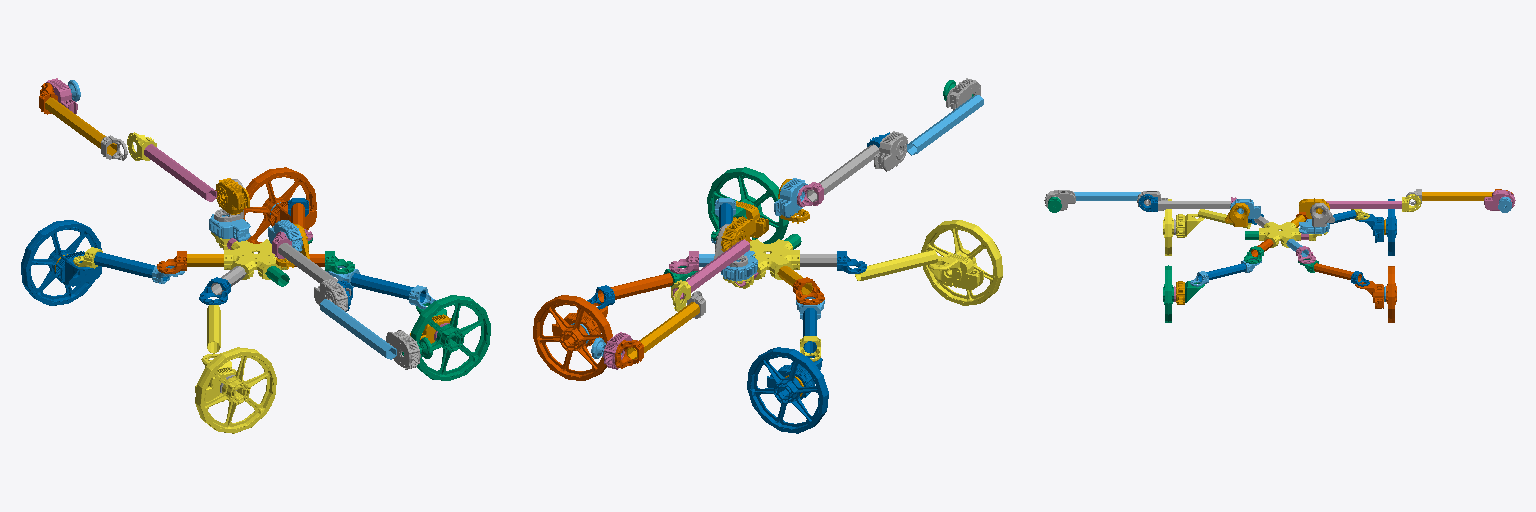
--- Render facts (derived) ---
3 views of the same robot in one strip: view 1: azimuth 30°, elevation 25°; view 2: azimuth 150°, elevation 25°; view 3: azimuth 270°, elevation 25° (orthographic).
Model Crab_1 with 66 links and 65 joints (12 revolute, 53 fixed), rooted at base_link, posed all joints at 0.
Visible links, largest first — view 1: pp_2074_08_27Z, pp_2074_08_65Z, pp_2074_08_2Z, pp_2074_08_5Z, a_2095_01_45Z, tubepar_12Z, tubepar_56Z, tubepar_59Z, hebi_x5_9_63Z, hebi_x5_1_15Z, tubepar_30Z, tubepar_35Z (+5 smaller); view 2: pp_2074_08_2Z, pp_2074_08_5Z, pp_2074_08_27Z, pp_2074_08_65Z, a_2095_01_45Z, tubepar_12Z, tubepar_7Z, tubepar_59Z, tubepar_56Z, tubepar_13Z, hebi_x5_4_19Z, tubepar_24Z (+7 smaller); view 3: a_2095_01_45Z, tubepar_59Z, tubepar_56Z, tubepar_13Z, tubepar_12Z.
Link boxes in pixels (box(x1,y1,x2,y2)): pp_2074_08_27Z: box(195, 347, 276, 433); pp_2074_08_65Z: box(411, 295, 490, 380); pp_2074_08_2Z: box(21, 220, 101, 305); pp_2074_08_5Z: box(243, 167, 316, 243); a_2095_01_45Z: box(224, 239, 287, 279); tubepar_12Z: box(320, 299, 396, 359); tubepar_56Z: box(144, 144, 216, 201); tubepar_59Z: box(45, 97, 116, 155); hebi_x5_9_63Z: box(215, 178, 249, 214); hebi_x5_1_15Z: box(386, 330, 420, 369); tubepar_30Z: box(350, 273, 425, 302); tubepar_35Z: box(94, 252, 168, 280); pp_2074_08_2Z: box(747, 347, 828, 433); pp_2074_08_5Z: box(533, 295, 612, 380); pp_2074_08_27Z: box(921, 220, 1002, 305); pp_2074_08_65Z: box(707, 167, 788, 243); a_2095_01_45Z: box(750, 239, 799, 279); tubepar_12Z: box(907, 95, 983, 155); tubepar_7Z: box(855, 250, 937, 280); tubepar_59Z: box(627, 302, 699, 359); tubepar_56Z: box(673, 239, 749, 299); tubepar_13Z: box(807, 144, 878, 201); hebi_x5_4_19Z: box(874, 131, 907, 171); tubepar_24Z: box(598, 273, 673, 302); a_2095_01_45Z: box(1259, 222, 1300, 247); tubepar_59Z: box(1422, 192, 1492, 200); tubepar_56Z: box(1326, 201, 1401, 208); tubepar_13Z: box(1158, 201, 1230, 208); tubepar_12Z: box(1074, 192, 1140, 200).
Size in the robot's own frame: 0.7614 by 1.66 by 0.343 metres.
57 mesh visuals loaded from 65 distinct referenced files (57 binary STL); not drawn: 8 (reference not matched to a file when rendering).

URDF robot description (Crab_1):
<?xml version="1.0" ?>
<robot name="Crab_1">
  <!--Joints-->
  <joint name="base_link_to_a_2095_01_45Z" type="fixed">
    <parent link="base_link"/>
    <child link="a_2095_01_45Z"/>
  </joint>
  <joint name="a_2095_01_45Z_to_tubepar_40Z" type="fixed">
    <parent link="a_2095_01_45Z"/>
    <child link="tubepar_40Z"/>
    <origin rpy="-2.09439510229 -1.57079632679 0.0" xyz="0.0433012702137 -0.0249999999987 -0.001"/>
  </joint>
  <joint name="tubepar_40Z_to_a_2039_02_46Z" type="fixed">
    <parent link="tubepar_40Z"/>
    <child link="a_2039_02_46Z"/>
    <origin rpy="-1.57079632679 -2.49972740699e-14 1.57079632679" xyz="-1.77882983978e-18 0.127 1.29164951977e-34"/>
  </joint>
  <joint name="a_2039_02_46Z_to_a_2039_02_32Z" type="fixed">
    <parent link="a_2039_02_46Z"/>
    <child link="a_2039_02_32Z"/>
    <origin rpy="3.14159265359 6.12323399574e-17 -2.61799387799" xyz="0.014 5.99183964918e-16 0.02"/>
  </joint>
  <joint name="a_2039_02_32Z_to_tubepar_30Z" type="fixed">
    <parent link="a_2039_02_32Z"/>
    <child link="tubepar_30Z"/>
    <origin rpy="1.57079632679 1.57079632679 0.0" xyz="-0.014 2.6908669449e-17 -0.02"/>
  </joint>
  <joint name="tubepar_30Z_to_a_2038_02_31Z" type="fixed">
    <parent link="tubepar_30Z"/>
    <child link="a_2038_02_31Z"/>
    <origin rpy="-1.57079632679 7.0397173103e-17 1.57079632679" xyz="-8.20357803102e-19 -0.2 -5.03064256918e-15"/>
  </joint>
  <joint name="a_2038_02_31Z_to_pm-2132-01_29Z" type="fixed">
    <parent link="a_2038_02_31Z"/>
    <child link="pm-2132-01_29Z"/>
    <origin rpy="3.14159265359 3.12323916977e-16 1.0471975512" xyz="-0.0135 3.07115354976e-16 -0.02"/>
  </joint>
  <joint name="pm-2132-01_29Z_to_hebi_x5_4_26Z" type="fixed">
    <parent link="pm-2132-01_29Z"/>
    <child link="hebi_x5_4_26Z"/>
    <origin rpy="-1.57079632679 -3.12323916977e-16 -3.14159265359" xyz="1.59404075496e-17 -0.043 0.04"/>
  </joint>
  <joint name="FrontRightLeg/Wheel/X5_4" type="revolute">
    <parent link="hebi_x5_4_26Z"/>
    <child link="pm_2155_01_21Z"/>
    <axis xyz="2.03934754218e-16 -1.12263246658e-15 1.0"/>
    <dynamics damping="0.5" friction="0.06"/>
    <limit effort="100" lower="-2.14e9" upper="+2.14e9" velocity="100"/>
    <origin rpy="0.0 -2.77555756027e-17 5.54667823984e-32" xyz="-5.07253762283e-17 1.510621373e-16 0.03"/>
  </joint>
  <gazebo reference="FrontRightLeg/Wheel/X5_4">
    <implicitSpringDamper>True</implicitSpringDamper>
  </gazebo>
  <joint name="pm_2155_01_21Z_to_pp_2074_08_65Z" type="fixed">
    <parent link="pm_2155_01_21Z"/>
    <child link="pp_2074_08_65Z"/>
    <origin rpy="-1.81492413814e-16 3.98951220638e-15 -0.78539816347" xyz="1.34538967405e-17 4.40377213791e-17 0.009"/>
  </joint>
  <joint name="a_2095_01_45Z_to_tubepar_42Z" type="fixed">
    <parent link="a_2095_01_45Z"/>
    <child link="tubepar_42Z"/>
    <origin rpy="-3.14159265359 -1.57079632679 0.0" xyz="1e-23 0.05 -0.001"/>
  </joint>
  <joint name="tubepar_42Z_to_a_2039_02_47Z" type="fixed">
    <parent link="tubepar_42Z"/>
    <child link="a_2039_02_47Z"/>
    <origin rpy="-1.57079632679 -2.50240867501e-14 -1.57079632679" xyz="1.51533398302e-19 -0.075 -1.00000000003e-23"/>
  </joint>
  <joint name="a_2039_02_47Z_to_hebi_x5_4_58Z" type="fixed">
    <parent link="a_2039_02_47Z"/>
    <child link="hebi_x5_4_58Z"/>
    <origin rpy="1.22464679915e-16 1.04083409e-17 2.4901621895e-14" xyz="0.014 3.34009026003e-16 0.02"/>
  </joint>
  <joint name="LeftArm/Base/X5_4" type="revolute">
    <parent link="hebi_x5_4_58Z"/>
    <child link="a_2040_01l_54Z"/>
    <axis xyz="-7.16406808574e-17 -1.73472348e-16 1.0"/>
    <dynamics damping="0.5" friction="0.06"/>
    <limit effort="100" lower="-2" upper="+2" velocity="100"/>
    <origin rpy="-1.23259516441e-32 3.34767643574e-17 1.22464679915e-16" xyz="-5.89926392865e-17 -2.96636102637e-18 0.03"/>
  </joint>
  <gazebo reference="LeftArm/Base/X5_4">
    <implicitSpringDamper>True</implicitSpringDamper>
  </gazebo>
  <joint name="a_2040_01l_54Z_to_hebi_x5_9_63Z" type="fixed">
    <parent link="a_2040_01l_54Z"/>
    <child link="hebi_x5_9_63Z"/>
    <origin rpy="-1.57079632679 -6.12323399574e-17 5.08239990574e-17" xyz="5.10619633156e-17 -0.0225 0.055"/>
  </joint>
  <joint name="LeftArm/Shoulder/X5_9" type="revolute">
    <parent link="hebi_x5_9_63Z"/>
    <child link="a_2038_02_62Z"/>
    <axis xyz="5.08238238768e-17 -2.27765793957e-16 1.0"/>
    <dynamics damping="0.5" friction="0.06"/>
    <limit effort="100" lower="-3.53" upper="+0.4" velocity="100"/>
    <origin rpy="0.0 -2.77555756e-17 -6.16297582204e-33" xyz="-5.53187041445e-17 -6.83297381872e-18 0.03"/>
  </joint>
  <gazebo reference="LeftArm/Shoulder/X5_9">
    <implicitSpringDamper>True</implicitSpringDamper>
  </gazebo>
  <joint name="a_2038_02_62Z_to_tubepar_56Z" type="fixed">
    <parent link="a_2038_02_62Z"/>
    <child link="tubepar_56Z"/>
    <origin rpy="1.57079632679 -1.57079632679 0.0" xyz="0.0135 -1.67831784012e-18 0.02"/>
  </joint>
  <joint name="tubepar_56Z_to_a_2039_02_61Z" type="fixed">
    <parent link="tubepar_56Z"/>
    <child link="a_2039_02_61Z"/>
    <origin rpy="-1.57079632679 -2.50240867501e-14 -1.57079632679" xyz="4.84788958735e-18 -0.3 1.31655315772e-17"/>
  </joint>
  <joint name="a_2039_02_61Z_to_hebi_x5_4_64Z" type="fixed">
    <parent link="a_2039_02_61Z"/>
    <child link="hebi_x5_4_64Z"/>
    <origin rpy="1.22464679915e-16 1.04083409e-17 2.4901621895e-14" xyz="0.014 3.15316657481e-16 0.02"/>
  </joint>
  <joint name="LeftArm/Elbow/X5_4" type="revolute">
    <parent link="hebi_x5_4_64Z"/>
    <child link="a_2038_02_60Z"/>
    <axis xyz="6.81710585768e-17 -3.43291579872e-16 1.0"/>
    <dynamics damping="0.5" friction="0.06"/>
    <limit effort="100" lower="-1.7" upper="+1.7" velocity="100"/>
    <origin rpy="0.0 -2.77555756e-17 -1.23259516441e-32" xyz="-5.47982871035e-17 -1.02987473962e-17 0.03"/>
  </joint>
  <gazebo reference="LeftArm/Elbow/X5_4">
    <implicitSpringDamper>True</implicitSpringDamper>
  </gazebo>
  <joint name="a_2038_02_60Z_to_tubepar_59Z" type="fixed">
    <parent link="a_2038_02_60Z"/>
    <child link="tubepar_59Z"/>
    <origin rpy="1.57079632679 -1.57079632679 0.0" xyz="0.0135 -2.33555801463e-18 0.02"/>
  </joint>
  <joint name="tubepar_59Z_to_a_2039_02_55Z" type="fixed">
    <parent link="tubepar_59Z"/>
    <child link="a_2039_02_55Z"/>
    <origin rpy="1.57079632679 2.50240867501e-14 -1.57079632679" xyz="-3.56280822649e-19 -0.3 4.84778447903e-18"/>
  </joint>
  <joint name="a_2039_02_55Z_to_hebi_x5_1_57Z" type="fixed">
    <parent link="a_2039_02_55Z"/>
    <child link="hebi_x5_1_57Z"/>
    <origin rpy="1.22464679915e-16 1.04083409e-17 2.50240867501e-14" xyz="0.014 3.29041787173e-16 0.02"/>
  </joint>
  <joint name="LeftArm/Wrist/X5_1" type="revolute">
    <parent link="hebi_x5_1_57Z"/>
    <child link="a_2067_01_4Z"/>
    <axis xyz="-1.06334975077e-16 -3.43291579872e-16 1.0"/>
    <dynamics damping="0.5" friction="0.06"/>
    <limit effort="100" lower="-2.14e9" upper="+2.14e9" velocity="100"/>
    <origin rpy="0.0 -2.77555756e-17 -1.23259516441e-32" xyz="-3.19004925231e-18 -1.02987473962e-17 0.03"/>
  </joint>
  <gazebo reference="LeftArm/Wrist/X5_1">
    <implicitSpringDamper>True</implicitSpringDamper>
  </gazebo>
  <joint name="a_2095_01_45Z_to_tubepar_50Z" type="fixed">
    <parent link="a_2095_01_45Z"/>
    <child link="tubepar_50Z"/>
    <origin rpy="2.09439510229 -1.57079632679 0.0" xyz="-0.0433012701559 -0.0250000000011 -0.001"/>
  </joint>
  <joint name="tubepar_50Z_to_a_2039_02_49Z" type="fixed">
    <parent link="tubepar_50Z"/>
    <child link="a_2039_02_49Z"/>
    <origin rpy="-1.57079632679 -2.50162318231e-14 1.57079632679" xyz="-1.66780753732e-18 0.127 -7.1054273576e-18"/>
  </joint>
  <joint name="a_2039_02_49Z_to_a_2039_02_9Z" type="fixed">
    <parent link="a_2039_02_49Z"/>
    <child link="a_2039_02_9Z"/>
    <origin rpy="3.14159265359 -6.12323399574e-17 2.61799387799" xyz="0.014 5.86749467042e-16 0.02"/>
  </joint>
  <joint name="a_2039_02_9Z_to_tubepar_7Z" type="fixed">
    <parent link="a_2039_02_9Z"/>
    <child link="tubepar_7Z"/>
    <origin rpy="1.57079632679 1.57079632679 0.0" xyz="-0.014 1.56382050131e-17 -0.02"/>
  </joint>
  <joint name="tubepar_7Z_to_a_2038_02_8Z" type="fixed">
    <parent link="tubepar_7Z"/>
    <child link="a_2038_02_8Z"/>
    <origin rpy="-1.57079632679 -1.15289174568e-17 1.57079632679" xyz="4.32068283077e-18 -0.2 -5.0448534239e-15"/>
  </joint>
  <joint name="a_2038_02_8Z_to_pm-2132-01_6Z" type="fixed">
    <parent link="a_2038_02_8Z"/>
    <child link="pm-2132-01_6Z"/>
    <origin rpy="-3.14159265359 3.12323916977e-16 2.09439510239" xyz="-0.0135 3.50911952562e-16 -0.02"/>
  </joint>
  <joint name="pm-2132-01_6Z_to_hebi_x5_4_39Z" type="fixed">
    <parent link="pm-2132-01_6Z"/>
    <child link="hebi_x5_4_39Z"/>
    <origin rpy="-1.57079632679 -3.12323916977e-16 -3.14159265359" xyz="6.07603094376e-19 -0.043 0.04"/>
  </joint>
  <joint name="BackRightLeg/Wheel/X5_4" type="revolute">
    <parent link="hebi_x5_4_39Z"/>
    <child link="pm_2155_01_1Z"/>
    <axis xyz="2.89067447375e-15 -4.84500417478e-16 1.0"/>
    <dynamics damping="0.5" friction="0.06"/>
    <limit effort="100" lower="-2.14e9" upper="+2.14e9" velocity="100"/>
    <origin rpy="0.0 -2.77555756027e-17 1.23259516441e-32" xyz="-8.38100223695e-17 1.38866969061e-17 0.03"/>
  </joint>
  <gazebo reference="BackRightLeg/Wheel/X5_4">
    <implicitSpringDamper>True</implicitSpringDamper>
  </gazebo>
  <joint name="pm_2155_01_1Z_to_pp_2074_08_27Z" type="fixed">
    <parent link="pm_2155_01_1Z"/>
    <child link="pp_2074_08_27Z"/>
    <origin rpy="1.96131761721e-16 9.79670465943e-16 -0.785398163261" xyz="7.17406055329e-17 9.99051661838e-18 0.009"/>
  </joint>
  <joint name="a_2095_01_45Z_to_tubepar_48Z" type="fixed">
    <parent link="a_2095_01_45Z"/>
    <child link="tubepar_48Z"/>
    <origin rpy="-2.09439510229 -1.57079632679 0.0" xyz="-0.0433012701559 0.0250000000011 -0.001"/>
  </joint>
  <joint name="tubepar_48Z_to_a_2039_02_52Z" type="fixed">
    <parent link="tubepar_48Z"/>
    <child link="a_2039_02_52Z"/>
    <origin rpy="1.57079632679 2.49972740699e-14 -1.57079632679" xyz="1.13495302842e-19 -0.127 2.27373675443e-16"/>
  </joint>
  <joint name="a_2039_02_52Z_to_a_2039_02_36Z" type="fixed">
    <parent link="a_2039_02_52Z"/>
    <child link="a_2039_02_36Z"/>
    <origin rpy="3.14159265359 6.12323399574e-17 -2.61799387799" xyz="0.014 3.73586646314e-16 0.02"/>
  </joint>
  <joint name="a_2039_02_36Z_to_tubepar_35Z" type="fixed">
    <parent link="a_2039_02_36Z"/>
    <child link="tubepar_35Z"/>
    <origin rpy="1.57079632679 1.57079632679 0.0" xyz="-0.014 2.62963460495e-17 -0.02"/>
  </joint>
  <joint name="tubepar_35Z_to_a_2038_02_34Z" type="fixed">
    <parent link="tubepar_35Z"/>
    <child link="a_2038_02_34Z"/>
    <origin rpy="-1.57079632679 7.0397173103e-17 1.57079632679" xyz="2.78474452683e-18 -0.2 -5.00222085975e-15"/>
  </joint>
  <joint name="a_2038_02_34Z_to_pm-2132-01_33Z" type="fixed">
    <parent link="a_2038_02_34Z"/>
    <child link="pm-2132-01_33Z"/>
    <origin rpy="3.14159265359 3.12323916977e-16 1.0471975512" xyz="-0.0135 3.5624102308e-16 -0.02"/>
  </joint>
  <joint name="pm-2132-01_33Z_to_hebi_x5_4_37Z" type="fixed">
    <parent link="pm-2132-01_33Z"/>
    <child link="hebi_x5_4_37Z"/>
    <origin rpy="-1.57079632679 -3.12323916977e-16 -3.14159265359" xyz="1.38192570725e-17 -0.043 0.04"/>
  </joint>
  <joint name="BackLeftLeg/Wheel/X5_4" type="revolute">
    <parent link="hebi_x5_4_37Z"/>
    <child link="pm_2155_01_28Z"/>
    <axis xyz="2.03934754218e-16 -1.0920162966e-15 1.0"/>
    <dynamics damping="0.5" friction="0.06"/>
    <limit effort="100" lower="-2.14e9" upper="+2.14e9" velocity="100"/>
    <origin rpy="0.0 -2.77555756027e-17 4.93038065763e-32" xyz="-5.07253762283e-17 1.37769767684e-16 0.03"/>
  </joint>
  <gazebo reference="BackLeftLeg/Wheel/X5_4">
    <implicitSpringDamper>True</implicitSpringDamper>
  </gazebo>
  <joint name="pm_2155_01_28Z_to_pp_2074_08_2Z" type="fixed">
    <parent link="pm_2155_01_28Z"/>
    <child link="pp_2074_08_2Z"/>
    <origin rpy="2.90547214556e-15 6.02176489237e-15 -0.785398163325" xyz="7.02973156013e-17 4.43132669088e-17 0.009"/>
  </joint>
  <joint name="a_2095_01_45Z_to_tubepar_43Z" type="fixed">
    <parent link="a_2095_01_45Z"/>
    <child link="tubepar_43Z"/>
    <origin rpy="2.09439510229 -1.57079632679 0.0" xyz="0.0433012701559 0.0250000000011 -0.001"/>
  </joint>
  <joint name="tubepar_43Z_to_a_2039_02_41Z" type="fixed">
    <parent link="tubepar_43Z"/>
    <child link="a_2039_02_41Z"/>
    <origin rpy="1.57079632679 2.50162318231e-14 -1.57079632679" xyz="1.13495302842e-19 -0.127 2.13162820728e-16"/>
  </joint>
  <joint name="a_2039_02_41Z_to_a_2039_02_25Z" type="fixed">
    <parent link="a_2039_02_41Z"/>
    <child link="a_2039_02_25Z"/>
    <origin rpy="3.14159265359 -6.12323399574e-17 2.61799387799" xyz="0.014 3.5582307792e-16 0.02"/>
  </joint>
  <joint name="a_2039_02_25Z_to_tubepar_24Z" type="fixed">
    <parent link="a_2039_02_25Z"/>
    <child link="tubepar_24Z"/>
    <origin rpy="1.57079632679 1.57079632679 0.0" xyz="-0.014 1.62505284126e-17 -0.02"/>
  </joint>
  <joint name="tubepar_24Z_to_a_2038_02_23Z" type="fixed">
    <parent link="tubepar_24Z"/>
    <child link="a_2038_02_23Z"/>
    <origin rpy="-1.57079632679 -1.15289174568e-17 1.57079632679" xyz="8.20357803102e-19 -0.2 -5.01643171447e-15"/>
  </joint>
  <joint name="a_2038_02_23Z_to_pm-2132-01_22Z" type="fixed">
    <parent link="a_2038_02_23Z"/>
    <child link="pm-2132-01_22Z"/>
    <origin rpy="-3.14159265359 3.12323916977e-16 2.09439510239" xyz="-0.0135 3.23102566531e-16 -0.02"/>
  </joint>
  <joint name="pm-2132-01_22Z_to_hebi_x5_4_38Z" type="fixed">
    <parent link="pm-2132-01_22Z"/>
    <child link="hebi_x5_4_38Z"/>
    <origin rpy="-1.57079632679 -3.12323916977e-16 -3.14159265359" xyz="2.72875357143e-18 -0.043 0.04"/>
  </joint>
  <joint name="FrontLeftLeg/Wheel/X5_4" type="revolute">
    <parent link="hebi_x5_4_38Z"/>
    <child link="pm_2155_01_53Z"/>
    <axis xyz="2.89067447375e-15 -4.53884247505e-16 1.0"/>
    <dynamics damping="0.5" friction="0.06"/>
    <limit effort="100" lower="-2.14e9" upper="+2.14e9" velocity="100"/>
    <origin rpy="0.0 -2.77555756027e-17 1.84889274661e-32" xyz="-8.38100223695e-17 2.90160367205e-17 0.03"/>
  </joint>
  <gazebo reference="FrontLeftLeg/Wheel/X5_4">
    <implicitSpringDamper>True</implicitSpringDamper>
  </gazebo>
  <joint name="pm_2155_01_53Z_to_pp_2074_08_5Z" type="fixed">
    <parent link="pm_2155_01_53Z"/>
    <child link="pp_2074_08_5Z"/>
    <origin rpy="5.07543359007e-16 5.45441840558e-15 -0.785398163345" xyz="7.17406055329e-17 1.02660621481e-17 0.009"/>
  </joint>
  <joint name="a_2095_01_45Z_to_tubepar_44Z" type="fixed">
    <parent link="a_2095_01_45Z"/>
    <child link="tubepar_44Z"/>
    <origin rpy="3.14159265359 -1.57079632679 0.0" xyz="1e-23 -0.05 -0.001"/>
  </joint>
  <joint name="tubepar_44Z_to_a_2039_02_51Z" type="fixed">
    <parent link="tubepar_44Z"/>
    <child link="a_2039_02_51Z"/>
    <origin rpy="1.57079632679 2.50240867501e-14 1.57079632679" xyz="-4.05110958394e-20 0.075 -3.77475440696e-18"/>
  </joint>
  <joint name="a_2039_02_51Z_to_hebi_x5_4_16Z" type="fixed">
    <parent link="a_2039_02_51Z"/>
    <child link="hebi_x5_4_16Z"/>
    <origin rpy="1.22464679915e-16 1.04083409e-17 2.47905995925e-14" xyz="0.014 3.22351690368e-16 0.02"/>
  </joint>
  <joint name="RightArm/Base/X5_4" type="revolute">
    <parent link="hebi_x5_4_16Z"/>
    <child link="a_2040_01r_20Z"/>
    <axis xyz="5.08239990574e-17 -1.73472348e-16 1.0"/>
    <dynamics damping="0.5" friction="0.06"/>
    <limit effort="100" lower="-2" upper="+2" velocity="100"/>
    <origin rpy="-1.23259516441e-32 -8.89879155574e-17 1.22464679915e-16" xyz="-5.53186988891e-17 -2.96636102637e-18 0.03"/>
  </joint>
  <gazebo reference="RightArm/Base/X5_4">
    <implicitSpringDamper>True</implicitSpringDamper>
  </gazebo>
  <joint name="a_2040_01r_20Z_to_hebi_x5_9_11Z" type="fixed">
    <parent link="a_2040_01r_20Z"/>
    <child link="hebi_x5_9_11Z"/>
    <origin rpy="1.57079632679 -0.0 -5.08239990574e-17" xyz="-1.324866e-05 0.02249724957 0.055"/>
  </joint>
  <joint name="RightArm/Shoulder/X5_9" type="revolute">
    <parent link="hebi_x5_9_11Z"/>
    <child link="a_2038_02_18Z"/>
    <axis xyz="1.618464767e-16 -2.27765793957e-16 1.0"/>
    <dynamics damping="0.5" friction="0.06"/>
    <limit effort="100" lower="-0.4" upper="+3.53" velocity="100"/>
    <origin rpy="0.0 -2.77555756e-17 -2.46519032882e-32" xyz="-5.19880245598e-17 7.37788089648e-18 0.03"/>
  </joint>
  <gazebo reference="RightArm/Shoulder/X5_9">
    <implicitSpringDamper>True</implicitSpringDamper>
  </gazebo>
  <joint name="a_2038_02_18Z_to_tubepar_13Z" type="fixed">
    <parent link="a_2038_02_18Z"/>
    <child link="tubepar_13Z"/>
    <origin rpy="1.57079632679 -1.57079632679 0.0" xyz="0.0135 -2.97332976645e-18 0.02"/>
  </joint>
  <joint name="tubepar_13Z_to_a_2039_02_14Z" type="fixed">
    <parent link="tubepar_13Z"/>
    <child link="a_2039_02_14Z"/>
    <origin rpy="-1.57079632679 -2.50240867501e-14 -1.57079632679" xyz="-3.71968293152e-20 -0.3 -6.88989761184e-19"/>
  </joint>
  <joint name="a_2039_02_14Z_to_hebi_x5_4_19Z" type="fixed">
    <parent link="a_2039_02_14Z"/>
    <child link="hebi_x5_4_19Z"/>
    <origin rpy="1.22464679915e-16 1.04083409e-17 2.4901621895e-14" xyz="0.014 3.28184536866e-16 0.02"/>
  </joint>
  <joint name="RightArm/Elbow/X5_4" type="revolute">
    <parent link="hebi_x5_4_19Z"/>
    <child link="a_2038_02_17Z"/>
    <axis xyz="1.791937114e-16 -3.43291579872e-16 1.0"/>
    <dynamics damping="0.5" friction="0.06"/>
    <limit effort="100" lower="-1.7" upper="+1.7" velocity="100"/>
    <origin rpy="0.0 -2.77555756e-17 -3.08148791102e-33" xyz="-5.14676075188e-17 3.91210731904e-18 0.03"/>
  </joint>
  <gazebo reference="RightArm/Elbow/X5_4">
    <implicitSpringDamper>True</implicitSpringDamper>
  </gazebo>
  <joint name="a_2038_02_17Z_to_tubepar_12Z" type="fixed">
    <parent link="a_2038_02_17Z"/>
    <child link="tubepar_12Z"/>
    <origin rpy="1.57079632679 -1.57079632679 0.0" xyz="0.0135 1.05802847742e-17 0.02"/>
  </joint>
  <joint name="tubepar_12Z_to_a_2039_02_10Z" type="fixed">
    <parent link="tubepar_12Z"/>
    <child link="a_2039_02_10Z"/>
    <origin rpy="1.57079632679 2.50240867501e-14 -1.57079632679" xyz="8.96948747589e-18 -0.3 5.20411785584e-18"/>
  </joint>
  <joint name="a_2039_02_10Z_to_hebi_x5_1_15Z" type="fixed">
    <parent link="a_2039_02_10Z"/>
    <child link="hebi_x5_1_15Z"/>
    <origin rpy="1.22464679915e-16 1.04083409e-17 2.50240867501e-14" xyz="0.014 3.30384762504e-16 0.02"/>
  </joint>
  <joint name="RightArm/Wrist/X5_1" type="revolute">
    <parent link="hebi_x5_1_15Z"/>
    <child link="a_2067_01_3Z"/>
    <axis xyz="-2.173576279e-16 -3.43291579872e-16 1.0"/>
    <dynamics damping="0.5" friction="0.06"/>
    <limit effort="100" lower="-2.14e9" upper="+2.14e9" velocity="100"/>
    <origin rpy="0.0 -2.77555756e-17 -3.08148791102e-33" xyz="-6.52072883701e-18 -1.02987473962e-17 0.03"/>
  </joint>
  <gazebo reference="RightArm/Wrist/X5_1">
    <implicitSpringDamper>True</implicitSpringDamper>
  </gazebo>
  <!--Gazebo Plugins-->
  <gazebo>
    <plugin filename="libhebiros_gazebo_plugin.so" name="hebiros_gazebo_plugin"/>
  </gazebo>
  <!--Links-->
  <link name="base_link">
    <!--Transformation from CyPhy2CAD global reference frame to base_link-->
    <CyPhy2CAD>
      <CADAssembly_metrics>
        <RotationMatrix>
          <Row>
            <Column Value="1.0"/>
            <Column Value="0.0"/>
            <Column Value="0.0"/>
          </Row>
          <Row>
            <Column Value="0.0"/>
            <Column Value="1.0"/>
            <Column Value="0.0"/>
          </Row>
          <Row>
            <Column Value="0.0"/>
            <Column Value="0.0"/>
            <Column Value="1.0"/>
          </Row>
        </RotationMatrix>
        <Translation X="1e-20" Y="1e-20" Z="1e-20"/>
      </CADAssembly_metrics>
    </CyPhy2CAD>
  </link>
  <link name="a_2038_02_31Z">
    <visual>
      <origin rpy="0 0 0" xyz="-0.0135 3.07115354976e-16 -0.02"/>
      <geometry>
        <mesh filename="package://crab_description/meshes/a_2038_02_31z_prt.stl" scale="0.001 0.001 0.001"/>
      </geometry>
    </visual>
    <collision>
      <origin rpy="0 0 0" xyz="-0.0135 3.07115354976e-16 -0.02"/>
      <geometry>
        <mesh filename="package://crab_description/meshes/a_2038_02_31z_prt.stl" scale="0.001 0.001 0.001"/>
      </geometry>
    </collision>
    <inertial>
      <origin rpy="0 0 0" xyz="0.00410529076991 3.07115354976e-16 -0.0057211595801"/>
      <mass value="0.059108249978877175"/>
      <inertia ixx="2.3632587043e-05" ixy="0.0" ixz="-3.93131579939e-06" iyy="2.03298829586e-05" iyz="0.0" izz="2.72912531732e-05"/>
    </inertial>
  </link>
  <gazebo reference="a_2038_02_31Z">
    <selfCollide>True</selfCollide>
    <material>Gazebo/Black</material>
    <mu1>0.1</mu1>
    <mu2>0.1</mu2>
    <kp>10000000</kp>
    <kd>1</kd>
    <minDepth>0.0005</minDepth>
    <maxVel>100</maxVel>
  </gazebo>
  <link name="a_2038_02_8Z">
    <visual>
      <origin rpy="0 0 0" xyz="-0.0135 3.50911952562e-16 -0.02"/>
      <geometry>
        <mesh filename="package://crab_description/meshes/a_2038_02_8z_prt.stl" scale="0.001 0.001 0.001"/>
      </geometry>
    </visual>
    <collision>
      <origin rpy="0 0 0" xyz="-0.0135 3.50911952562e-16 -0.02"/>
      <geometry>
        <mesh filename="package://crab_description/meshes/a_2038_02_8z_prt.stl" scale="0.001 0.001 0.001"/>
      </geometry>
    </collision>
    <inertial>
      <origin rpy="0 0 0" xyz="0.00410529076991 3.50911952562e-16 -0.0057211595801"/>
      <mass value="0.059108249978877175"/>
      <inertia ixx="2.3632587043e-05" ixy="0.0" ixz="-3.93131579939e-06" iyy="2.03298829586e-05" iyz="0.0" izz="2.72912531732e-05"/>
    </inertial>
  </link>
  <gazebo reference="a_2038_02_8Z">
    <selfCollide>True</selfCollide>
    <material>Gazebo/Black</material>
    <mu1>0.1</mu1>
    <mu2>0.1</mu2>
    <kp>10000000</kp>
    <kd>1</kd>
    <minDepth>0.0005</minDepth>
    <maxVel>100</maxVel>
  </gazebo>
  <link name="a_2038_02_34Z">
    <visual>
      <origin rpy="0 0 0" xyz="-0.0135 3.5624102308e-16 -0.02"/>
      <geometry>
        <mesh filename="package://crab_description/meshes/a_2038_02_34z_prt.stl" scale="0.001 0.001 0.001"/>
      </geometry>
    </visual>
    <collision>
      <origin rpy="0 0 0" xyz="-0.0135 3.5624102308e-16 -0.02"/>
      <geometry>
        <mesh filename="package://crab_description/meshes/a_2038_02_34z_prt.stl" scale="0.001 0.001 0.001"/>
      </geometry>
    </collision>
    <inertial>
      <origin rpy="0 0 0" xyz="0.00410529076991 3.5624102308e-16 -0.0057211595801"/>
      <mass value="0.059108249978877175"/>
      <inertia ixx="2.3632587043e-05" ixy="0.0" ixz="-3.93131579939e-06" iyy="2.03298829586e-05" iyz="0.0" izz="2.72912531732e-05"/>
    </inertial>
  </link>
  <gazebo reference="a_2038_02_34Z">
    <selfCollide>True</selfCollide>
    <material>Gazebo/Black</material>
    <mu1>0.1</mu1>
    <mu2>0.1</mu2>
    <kp>10000000</kp>
    <kd>1</kd>
    <minDepth>0.0005</minDepth>
    <maxVel>100</maxVel>
  </gazebo>
  <link name="a_2038_02_23Z">
    <visual>
      <origin rpy="0 0 0" xyz="-0.0135 3.23102566531e-16 -0.02"/>
      <geometry>
        <mesh filename="package://crab_description/meshes/a_2038_02_23z_prt.stl" scale="0.001 0.001 0.001"/>
      </geometry>
    </visual>
    <collision>
      <origin rpy="0 0 0" xyz="-0.0135 3.23102566531e-16 -0.02"/>
      <geometry>
        <mesh filename="package://crab_description/meshes/a_2038_02_23z_prt.stl" scale="0.001 0.001 0.001"/>
      </geometry>
    </collision>
    <inertial>
      <origin rpy="0 0 0" xyz="0.00410529076991 3.23102566531e-16 -0.0057211595801"/>
      <mass value="0.059108249978877175"/>
      <inertia ixx="2.3632587043e-05" ixy="0.0" ixz="-3.93131579939e-06" iyy="2.03298829586e-05" iyz="0.0" izz="2.72912531732e-05"/>
    </inertial>
  </link>
  <gazebo reference="a_2038_02_23Z">
    <selfCollide>True</selfCollide>
    <material>Gazebo/Black</material>
    <mu1>0.1</mu1>
    <mu2>0.1</mu2>
    <kp>10000000</kp>
    <kd>1</kd>
    <minDepth>0.0005</minDepth>
    <maxVel>100</maxVel>
  </gazebo>
  <link name="a_2038_02_62Z">
    <visual>
      <origin rpy="0 0 0" xyz="5.68434188608e-17 -2.4945794199e-33 -4.46672171829e-33"/>
      <geometry>
        <mesh filename="package://crab_description/meshes/a_2038_02_62z_prt.stl" scale="0.001 0.001 0.001"/>
      </geometry>
    </visual>
    <collision>
      <origin rpy="0 0 0" xyz="5.68434188608e-17 -2.4945794199e-33 -4.46672171829e-33"/>
      <geometry>
        <mesh filename="package://crab_description/meshes/a_2038_02_62z_prt.stl" scale="0.001 0.001 0.001"/>
      </geometry>
    </collision>
    <inertial>
      <origin rpy="0 0 0" xyz="0.0176052907699 -2.4945794199e-33 0.0142788404199"/>
      <mass value="0.059108249978877175"/>
      <inertia ixx="2.3632587043e-05" ixy="0.0" ixz="-3.93131579939e-06" iyy="2.03298829586e-05" iyz="0.0" izz="2.72912531732e-05"/>
    </inertial>
  </link>
  <gazebo reference="a_2038_02_62Z">
    <selfCollide>True</selfCollide>
    <material>Gazebo/Black</material>
    <mu1>0.1</mu1>
    <mu2>0.1</mu2>
    <kp>10000000</kp>
    <kd>1</kd>
    <minDepth>0.0005</minDepth>
    <maxVel>100</maxVel>
  </gazebo>
  <link name="a_2038_02_18Z">
    <visual>
      <origin rpy="0 0 0" xyz="5.68434188608e-17 -7.94738722418e-33 -1.07776288758e-32"/>
      <geometry>
        <mesh filename="package://crab_description/meshes/a_2038_02_18z_prt.stl" scale="0.001 0.001 0.001"/>
      </geometry>
    </visual>
    <collision>
      <origin rpy="0 0 0" xyz="5.68434188608e-17 -7.94738722418e-33 -1.07776288758e-32"/>
      <geometry>
        <mesh filename="package://crab_description/meshes/a_2038_02_18z_prt.stl" scale="0.001 0.001 0.001"/>
      </geometry>
    </collision>
    <inertial>
      <origin rpy="0 0 0" xyz="0.0176052907699 -7.94738722418e-33 0.0142788404199"/>
      <mass value="0.059108249978877175"/>
      <inertia ixx="2.3632587043e-05" ixy="0.0" ixz="-3.93131579939e-06" iyy="2.03298829586e-05" iyz="0.0" izz="2.72912531732e-05"/>
    </inertial>
  </link>
  <gazebo reference="a_2038_02_18Z">
    <selfCollide>True</selfCollide>
    <material>Gazebo/Black</material>
    <mu1>0.1</mu1>
    <mu2>0.1</mu2>
    <kp>10000000</kp>
    <kd>1</kd>
    <minDepth>0.0005</minDepth>
    <maxVel>100</maxVel>
  </gazebo>
  <link name="a_2038_02_60Z">
    <visual>
      <origin rpy="0 0 0" xyz="5.68434188608e-17 4.46674163401e-33 -5.45279784642e-33"/>
      <geometry>
        <mesh filename="package://crab_description/meshes/a_2038_02_60z_prt.stl" scale="0.001 0.001 0.001"/>
      </geometry>
    </visual>
    <collision>
      <origin rpy="0 0 0" xyz="5.68434188608e-17 4.46674163401e-33 -5.45279784642e-33"/>
      <geometry>
        <mesh filename="package://crab_description/meshes/a_2038_02_60z_prt.stl" scale="0.001 0.001 0.001"/>
      </geometry>
    </collision>
    <inertial>
      <origin rpy="0 0 0" xyz="0.0176052907699 4.46674163401e-33 0.0142788404199"/>
      <mass value="0.059108249978877175"/>
      <inertia ixx="2.3632587043e-05" ixy="0.0" ixz="-3.93131579939e-06" iyy="2.03298829586e-05" iyz="0.0" izz="2.72912531732e-05"/>
    </inertial>
  </link>
  <gazebo reference="a_2038_02_60Z">
    <selfCollide>True</selfCollide>
    <material>Gazebo/Black</material>
    <mu1>0.1</mu1>
    <mu2>0.1</mu2>
    <kp>10000000</kp>
    <kd>1</kd>
    <minDepth>0.0005</minDepth>
    <maxVel>100</maxVel>
  </gazebo>
  <link name="a_2038_02_17Z">
    <visual>
      <origin rpy="0 0 0" xyz="5.68434188608e-17 1.42108547152e-17 -9.25182095741e-33"/>
      <geometry>
        <mesh filename="package://crab_description/meshes/a_2038_02_17z_prt.stl" scale="0.001 0.001 0.001"/>
      </geometry>
    </visual>
    <collision>
      <origin rpy="0 0 0" xyz="5.68434188608e-17 1.42108547152e-17 -9.25182095741e-33"/>
      <geometry>
        <mesh filename="package://crab_description/meshes/a_2038_02_17z_prt.stl" scale="0.001 0.001 0.001"/>
      </geometry>
    </collision>
    <inertial>
      <origin rpy="0 0 0" xyz="0.0176052907699 1.42108547152e-17 0.0142788404199"/>
      <mass value="0.059108249978877175"/>
      <inertia ixx="2.3632587043e-05" ixy="0.0" ixz="-3.93131579939e-06" iyy="2.03298829586e-05" iyz="0.0" izz="2.72912531732e-05"/>
    </inertial>
  </link>
  <gazebo reference="a_2038_02_17Z">
    <selfCollide>True</selfCollide>
    <material>Gazebo/Black</material>
    <mu1>0.1</mu1>
    <mu2>0.1</mu2>
    <kp>10000000</kp>
    <kd>1</kd>
    <minDepth>0.0005</minDepth>
    <maxVel>100</maxVel>
  </gazebo>
  <link name="a_2039_02_32Z">
    <visual>
      <origin rpy="0 0 0" xyz="1.42108547179e-17 2.46139223842e-17 4.63808404458e-33"/>
      <geometry>
        <mesh filename="package://crab_description/meshes/a_2039_02_32z_prt.stl" scale="0.001 0.001 0.001"/>
      </geometry>
    </visual>
    <collision>
      <origin rpy="0 0 0" xyz="1.42108547179e-17 2.46139223842e-17 4.63808404458e-33"/>
      <geometry>
        <mesh filename="package://crab_description/meshes/a_2039_02_32z_prt.stl" scale="0.001 0.001 0.001"/>
      </geometry>
    </collision>
    <inertial>
      <origin rpy="0 0 0" xyz="-0.0114358895287 2.46139223842e-17 -0.0116659523685"/>
      <mass value="0.08075605008850124"/>
      <inertia ixx="3.54766366127e-05" ixy="0.0" ixz="-8.29679742245e-06" iyy="3.7139980371e-05" iyz="0.0" izz="5.23238184568e-05"/>
    </inertial>
  </link>
  <gazebo reference="a_2039_02_32Z">
    <selfCollide>True</selfCollide>
    <material>Gazebo/Black</material>
    <mu1>0.1</mu1>
    <mu2>0.1</mu2>
    <kp>10000000</kp>
    <kd>1</kd>
    <minDepth>0.0005</minDepth>
    <maxVel>100</maxVel>
  </gazebo>
  <link name="a_2039_02_46Z">
    <visual>
      <origin rpy="0 0 0" xyz="0.014 6.11618462794e-16 0.02"/>
      <geometry>
        <mesh filename="package://crab_description/meshes/a_2039_02_46z_prt.stl" scale="0.001 0.001 0.001"/>
      </geometry>
    </visual>
    <collision>
      <origin rpy="0 0 0" xyz="0.014 6.11618462794e-16 0.02"/>
      <geometry>
        <mesh filename="package://crab_description/meshes/a_2039_02_46z_prt.stl" scale="0.001 0.001 0.001"/>
      </geometry>
    </collision>
    <inertial>
      <origin rpy="0 0 0" xyz="0.00256411047128 6.11618462794e-16 0.00833404763152"/>
      <mass value="0.08075605008850124"/>
      <inertia ixx="3.54766366127e-05" ixy="0.0" ixz="-8.29679742245e-06" iyy="3.7139980371e-05" iyz="0.0" izz="5.23238184568e-05"/>
    </inertial>
  </link>
  <gazebo reference="a_2039_02_46Z">
    <selfCollide>True</selfCollide>
    <material>Gazebo/Black</material>
    <mu1>0.1</mu1>
    <mu2>0.1</mu2>
    <kp>10000000</kp>
    <kd>1</kd>
    <minDepth>0.0005</minDepth>
    <maxVel>100</maxVel>
  </gazebo>
  <link name="a_2039_02_47Z">
    <visual>
      <origin rpy="0 0 0" xyz="0.014 3.47887903851e-16 0.02"/>
      <geometry>
        <mesh filename="package://crab_description/meshes/a_2039_02_47z_prt.stl" scale="0.001 0.001 0.001"/>
      </geometry>
    </visual>
    <collision>
      <origin rpy="0 0 0" xyz="0.014 3.47887903851e-16 0.02"/>
      <geometry>
        <mesh filename="package://crab_description/meshes/a_2039_02_47z_prt.stl" scale="0.001 0.001 0.001"/>
      </geometry>
    </collision>
    <inertial>
      <origin rpy="0 0 0" xyz="0.00256411047128 3.47887903851e-16 0.00833404763152"/>
      <mass value="0.08075605008850124"/>
      <inertia ixx="3.54766366127e-05" ixy="0.0" ixz="-8.29679742245e-06" iyy="3.7139980371e-05" iyz="0.0" izz="5.23238184568e-05"/>
    </inertial>
  </link>
  <gazebo reference="a_2039_02_47Z">
    <selfCollide>True</selfCollide>
    <material>Gazebo/Black</material>
    <mu1>0.1</mu1>
    <mu2>0.1</mu2>
    <kp>10000000</kp>
    <kd>1</kd>
    <minDepth>0.0005</minDepth>
    <maxVel>100</maxVel>
  </gazebo>
  <link name="a_2039_02_49Z">
    <visual>
      <origin rpy="0 0 0" xyz="0.014 5.99183964918e-16 0.02"/>
      <geometry>
        <mesh filename="package://crab_description/meshes/a_2039_02_49z_prt.stl" scale="0.001 0.001 0.001"/>
      </geometry>
    </visual>
    <collision>
      <origin rpy="0 0 0" xyz="0.014 5.99183964918e-16 0.02"/>
      <geometry>
        <mesh filename="package://crab_description/meshes/a_2039_02_49z_prt.stl" scale="0.001 0.001 0.001"/>
      </geometry>
    </collision>
    <inertial>
      <origin rpy="0 0 0" xyz="0.00256411047128 5.99183964918e-16 0.00833404763152"/>
      <mass value="0.08075605008850124"/>
      <inertia ixx="3.54766366127e-05" ixy="0.0" ixz="-8.29679742245e-06" iyy="3.7139980371e-05" iyz="0.0" izz="5.23238184568e-05"/>
    </inertial>
  </link>
  <gazebo reference="a_2039_02_49Z">
    <selfCollide>True</selfCollide>
    <material>Gazebo/Black</material>
    <mu1>0.1</mu1>
    <mu2>0.1</mu2>
    <kp>10000000</kp>
    <kd>1</kd>
    <minDepth>0.0005</minDepth>
    <maxVel>100</maxVel>
  </gazebo>
  <link name="a_2039_02_52Z">
    <visual>
      <origin rpy="0 0 0" xyz="0.014 3.8602114419e-16 0.02"/>
      <geometry>
        <mesh filename="package://crab_description/meshes/a_2039_02_52z_prt.stl" scale="0.001 0.001 0.001"/>
      </geometry>
    </visual>
    <collision>
      <origin rpy="0 0 0" xyz="0.014 3.8602114419e-16 0.02"/>
      <geometry>
        <mesh filename="package://crab_description/meshes/a_2039_02_52z_prt.stl" scale="0.001 0.001 0.001"/>
      </geometry>
    </collision>
    <inertial>
      <origin rpy="0 0 0" xyz="0.00256411047128 3.8602114419e-16 0.00833404763152"/>
      <mass value="0.08075605008850124"/>
      <inertia ixx="3.54766366127e-05" ixy="0.0" ixz="-8.29679742245e-06" iyy="3.7139980371e-05" iyz="0.0" izz="5.23238184568e-05"/>
    </inertial>
  </link>
  <gazebo reference="a_2039_02_52Z">
    <selfCollide>True</selfCollide>
    <material>Gazebo/Black</material>
    <mu1>0.1</mu1>
    <mu2>0.1</mu2>
    <kp>10000000</kp>
    <kd>1</kd>
    <minDepth>0.0005</minDepth>
    <maxVel>100</maxVel>
  </gazebo>
  <link name="a_2039_02_41Z">
    <visual>
      <origin rpy="0 0 0" xyz="0.014 3.68257575796e-16 0.02"/>
      <geometry>
        <mesh filename="package://crab_description/meshes/a_2039_02_41z_prt.stl" scale="0.001 0.001 0.001"/>
      </geometry>
    </visual>
    <collision>
      <origin rpy="0 0 0" xyz="0.014 3.68257575796e-16 0.02"/>
      <geometry>
        <mesh filename="package://crab_description/meshes/a_2039_02_41z_prt.stl" scale="0.001 0.001 0.001"/>
      </geometry>
    </collision>
    <inertial>
      <origin rpy="0 0 0" xyz="0.00256411047128 3.68257575796e-16 0.00833404763152"/>
      <mass value="0.08075605008850124"/>
      <inertia ixx="3.54766366127e-05" ixy="0.0" ixz="-8.29679742245e-06" iyy="3.7139980371e-05" iyz="0.0" izz="5.23238184568e-05"/>
    </inertial>
  </link>
  <gazebo reference="a_2039_02_41Z">
    <selfCollide>True</selfCollide>
    <material>Gazebo/Black</material>
    <mu1>0.1</mu1>
    <mu2>0.1</mu2>
    <kp>10000000</kp>
    <kd>1</kd>
    <minDepth>0.0005</minDepth>
    <maxVel>100</maxVel>
  </gazebo>
  <link name="a_2039_02_51Z">
    <visual>
      <origin rpy="0 0 0" xyz="0.014 3.36230568215e-16 0.02"/>
      <geometry>
        <mesh filename="package://crab_description/meshes/a_2039_02_51z_prt.stl" scale="0.001 0.001 0.001"/>
      </geometry>
    </visual>
    <collision>
      <origin rpy="0 0 0" xyz="0.014 3.36230568215e-16 0.02"/>
      <geometry>
        <mesh filename="package://crab_description/meshes/a_2039_02_51z_prt.stl" scale="0.001 0.001 0.001"/>
      </geometry>
    </collision>
    <inertial>
      <origin rpy="0 0 0" xyz="0.00256411047128 3.36230568215e-16 0.00833404763152"/>
      <mass value="0.08075605008850124"/>
      <inertia ixx="3.54766366127e-05" ixy="0.0" ixz="-8.29679742245e-06" iyy="3.7139980371e-05" iyz="0.0" izz="5.23238184568e-05"/>
    </inertial>
  </link>
  <gazebo reference="a_2039_02_51Z">
    <selfCollide>True</selfCollide>
    <material>Gazebo/Black</material>
    <mu1>0.1</mu1>
    <mu2>0.1</mu2>
    <kp>10000000</kp>
    <kd>1</kd>
    <minDepth>0.0005</minDepth>
    <maxVel>100</maxVel>
  </gazebo>
  <link name="a_2039_02_9Z">
    <visual>
      <origin rpy="0 0 0" xyz="-1.42108547179e-17 2.46139223842e-17 3.13091598156e-33"/>
      <geometry>
        <mesh filename="package://crab_description/meshes/a_2039_02_9z_prt.stl" scale="0.001 0.001 0.001"/>
      </geometry>
    </visual>
    <collision>
      <origin rpy="0 0 0" xyz="-1.42108547179e-17 2.46139223842e-17 3.13091598156e-33"/>
      <geometry>
        <mesh filename="package://crab_description/meshes/a_2039_02_9z_prt.stl" scale="0.001 0.001 0.001"/>
      </geometry>
    </collision>
    <inertial>
      <origin rpy="0 0 0" xyz="-0.0114358895287 2.46139223842e-17 -0.0116659523685"/>
      <mass value="0.08075605008850124"/>
      <inertia ixx="3.54766366127e-05" ixy="0.0" ixz="-8.29679742245e-06" iyy="3.7139980371e-05" iyz="0.0" izz="5.23238184568e-05"/>
    </inertial>
  </link>
  <gazebo reference="a_2039_02_9Z">
    <selfCollide>True</selfCollide>
    <material>Gazebo/Black</material>
    <mu1>0.1</mu1>
    <mu2>0.1</mu2>
    <kp>10000000</kp>
    <kd>1</kd>
    <minDepth>0.0005</minDepth>
    <maxVel>100</maxVel>
  </gazebo>
  <link name="a_2039_02_36Z">
    <visual>
      <origin rpy="0 0 0" xyz="1.42108547179e-17 2.46139223842e-17 3.13091598156e-33"/>
      <geometry>
        <mesh filename="package://crab_description/meshes/a_2039_02_36z_prt.stl" scale="0.001 0.001 0.001"/>
      </geometry>
    </visual>
    <collision>
      <origin rpy="0 0 0" xyz="1.42108547179e-17 2.46139223842e-17 3.13091598156e-33"/>
      <geometry>
        <mesh filename="package://crab_description/meshes/a_2039_02_36z_prt.stl" scale="0.001 0.001 0.001"/>
      </geometry>
    </collision>
    <inertial>
      <origin rpy="0 0 0" xyz="-0.0114358895287 2.46139223842e-17 -0.0116659523685"/>
      <mass value="0.08075605008850124"/>
      <inertia ixx="3.54766366127e-05" ixy="0.0" ixz="-8.29679742245e-06" iyy="3.7139980371e-05" iyz="0.0" izz="5.23238184568e-05"/>
    </inertial>
  </link>
  <gazebo reference="a_2039_02_36Z">
    <selfCollide>True</selfCollide>
    <material>Gazebo/Black</material>
    <mu1>0.1</mu1>
    <mu2>0.1</mu2>
    <kp>10000000</kp>
    <kd>1</kd>
    <minDepth>0.0005</minDepth>
    <maxVel>100</maxVel>
  </gazebo>
  <link name="a_2039_02_25Z">
    <visual>
      <origin rpy="0 0 0" xyz="-1.42108547179e-17 2.46139223842e-17 4.63808404458e-33"/>
      <geometry>
        <mesh filename="package://crab_description/meshes/a_2039_02_25z_prt.stl" scale="0.001 0.001 0.001"/>
      </geometry>
    </visual>
    <collision>
      <origin rpy="0 0 0" xyz="-1.42108547179e-17 2.46139223842e-17 4.63808404458e-33"/>
      <geometry>
        <mesh filename="package://crab_description/meshes/a_2039_02_25z_prt.stl" scale="0.001 0.001 0.001"/>
      </geometry>
    </collision>
    <inertial>
      <origin rpy="0 0 0" xyz="-0.0114358895287 2.46139223842e-17 -0.0116659523685"/>
      <mass value="0.08075605008850124"/>
      <inertia ixx="3.54766366127e-05" ixy="0.0" ixz="-8.29679742245e-06" iyy="3.7139980371e-05" iyz="0.0" izz="5.23238184568e-05"/>
    </inertial>
  </link>
  <gazebo reference="a_2039_02_25Z">
    <selfCollide>True</selfCollide>
    <material>Gazebo/Black</material>
    <mu1>0.1</mu1>
    <mu2>0.1</mu2>
    <kp>10000000</kp>
    <kd>1</kd>
    <minDepth>0.0005</minDepth>
    <maxVel>100</maxVel>
  </gazebo>
  <link name="a_2039_02_61Z">
    <visual>
      <origin rpy="0 0 0" xyz="0.014 3.29527512197e-16 0.02"/>
      <geometry>
        <mesh filename="package://crab_description/meshes/a_2039_02_61z_prt.stl" scale="0.001 0.001 0.001"/>
      </geometry>
    </visual>
    <collision>
      <origin rpy="0 0 0" xyz="0.014 3.29527512197e-16 0.02"/>
      <geometry>
        <mesh filename="package://crab_description/meshes/a_2039_02_61z_prt.stl" scale="0.001 0.001 0.001"/>
      </geometry>
    </collision>
    <inertial>
      <origin rpy="0 0 0" xyz="0.00256411047128 3.29527512197e-16 0.00833404763152"/>
      <mass value="0.08075605008850124"/>
      <inertia ixx="3.54766366127e-05" ixy="0.0" ixz="-8.29679742245e-06" iyy="3.7139980371e-05" iyz="0.0" izz="5.23238184568e-05"/>
    </inertial>
  </link>
  <gazebo reference="a_2039_02_61Z">
    <selfCollide>True</selfCollide>
    <material>Gazebo/Black</material>
    <mu1>0.1</mu1>
    <mu2>0.1</mu2>
    <kp>10000000</kp>
    <kd>1</kd>
    <minDepth>0.0005</minDepth>
    <maxVel>100</maxVel>
  </gazebo>
  <link name="a_2039_02_14Z">
    <visual>
      <origin rpy="0 0 0" xyz="0.014 3.42395391581e-16 0.02"/>
      <geometry>
        <mesh filename="package://crab_description/meshes/a_2039_02_14z_prt.stl" scale="0.001 0.001 0.001"/>
      </geometry>
    </visual>
    <collision>
      <origin rpy="0 0 0" xyz="0.014 3.42395391581e-16 0.02"/>
      <geometry>
        <mesh filename="package://crab_description/meshes/a_2039_02_14z_prt.stl" scale="0.001 0.001 0.001"/>
      </geometry>
    </collision>
    <inertial>
      <origin rpy="0 0 0" xyz="0.00256411047128 3.42395391581e-16 0.00833404763152"/>
      <mass value="0.08075605008850124"/>
      <inertia ixx="3.54766366127e-05" ixy="0.0" ixz="-8.29679742245e-06" iyy="3.7139980371e-05" iyz="0.0" izz="5.23238184568e-05"/>
    </inertial>
  </link>
  <gazebo reference="a_2039_02_14Z">
    <selfCollide>True</selfCollide>
    <material>Gazebo/Black</material>
    <mu1>0.1</mu1>
    <mu2>0.1</mu2>
    <kp>10000000</kp>
    <kd>1</kd>
    <minDepth>0.0005</minDepth>
    <maxVel>100</maxVel>
  </gazebo>
  <link name="a_2039_02_55Z">
    <visual>
      <origin rpy="0 0 0" xyz="0.014 3.43252641888e-16 0.02"/>
      <geometry>
        <mesh filename="package://crab_description/meshes/a_2039_02_55z_prt.stl" scale="0.001 0.001 0.001"/>
      </geometry>
    </visual>
    <collision>
      <origin rpy="0 0 0" xyz="0.014 3.43252641888e-16 0.02"/>
      <geometry>
        <mesh filename="package://crab_description/meshes/a_2039_02_55z_prt.stl" scale="0.001 0.001 0.001"/>
      </geometry>
    </collision>
    <inertial>
      <origin rpy="0 0 0" xyz="0.00256411047128 3.43252641888e-16 0.00833404763152"/>
      <mass value="0.08075605008850124"/>
      <inertia ixx="3.54766366127e-05" ixy="0.0" ixz="-8.29679742245e-06" iyy="3.7139980371e-05" iyz="0.0" izz="5.23238184568e-05"/>
    </inertial>
  </link>
  <gazebo reference="a_2039_02_55Z">
    <selfCollide>True</selfCollide>
    <material>Gazebo/Black</material>
    <mu1>0.1</mu1>
    <mu2>0.1</mu2>
    <kp>10000000</kp>
    <kd>1</kd>
    <minDepth>0.0005</minDepth>
    <maxVel>100</maxVel>
  </gazebo>
  <link name="a_2039_02_10Z">
    <visual>
      <origin rpy="0 0 0" xyz="0.014 3.44595617219e-16 0.02"/>
      <geometry>
        <mesh filename="package://crab_description/meshes/a_2039_02_10z_prt.stl" scale="0.001 0.001 0.001"/>
      </geometry>
    </visual>
    <collision>
      <origin rpy="0 0 0" xyz="0.014 3.44595617219e-16 0.02"/>
      <geometry>
        <mesh filename="package://crab_description/meshes/a_2039_02_10z_prt.stl" scale="0.001 0.001 0.001"/>
      </geometry>
    </collision>
    <inertial>
      <origin rpy="0 0 0" xyz="0.00256411047128 3.44595617219e-16 0.00833404763152"/>
      <mass value="0.08075605008850124"/>
      <inertia ixx="3.54766366127e-05" ixy="0.0" ixz="-8.29679742245e-06" iyy="3.7139980371e-05" iyz="0.0" izz="5.23238184568e-05"/>
    </inertial>
  </link>
  <gazebo reference="a_2039_02_10Z">
    <selfCollide>True</selfCollide>
    <material>Gazebo/Black</material>
    <mu1>0.1</mu1>
    <mu2>0.1</mu2>
    <kp>10000000</kp>
    <kd>1</kd>
    <minDepth>0.0005</minDepth>
    <maxVel>100</maxVel>
  </gazebo>
  <link name="a_2040_01l_54Z">
    <visual>
      <origin rpy="0 0 0" xyz="5.68434188608e-17 1.16987225868e-17 6.69157512642e-33"/>
      <geometry>
        <mesh filename="package://crab_description/meshes/a_2040_01l_54z_prt.stl" scale="0.001 0.001 0.001"/>
      </geometry>
    </visual>
    <collision>
      <origin rpy="0 0 0" xyz="5.68434188608e-17 1.16987225868e-17 6.69157512642e-33"/>
      <geometry>
        <mesh filename="package://crab_description/meshes/a_2040_01l_54z_prt.stl" scale="0.001 0.001 0.001"/>
      </geometry>
    </collision>
    <inertial>
      <origin rpy="0 0 0" xyz="0.00488957903226 -0.0237747335213 0.0321044758926"/>
      <mass value="0.2094618060096302"/>
      <inertia ixx="0.000169129010671" ixy="4.37501745881e-06" ixz="1.7358738295e-06" iyy="0.00021478774811" iyz="3.00638650677e-05" izz="0.000117912633461"/>
    </inertial>
  </link>
  <gazebo reference="a_2040_01l_54Z">
    <selfCollide>True</selfCollide>
    <material>Gazebo/Black</material>
    <mu1>0.1</mu1>
    <mu2>0.1</mu2>
    <kp>10000000</kp>
    <kd>1</kd>
    <minDepth>0.0005</minDepth>
    <maxVel>100</maxVel>
  </gazebo>
  <link name="a_2040_01r_20Z">
    <visual>
      <origin rpy="0 0 0" xyz="0.00144337567 0.0366111248 -0.0110127649"/>
      <geometry>
        <mesh filename="package://crab_description/meshes/a_2040_01r_20z_prt.stl" scale="0.001 0.001 0.001"/>
      </geometry>
    </visual>
    <collision>
      <origin rpy="0 0 0" xyz="0.00144337567 0.0366111248 -0.0110127649"/>
      <geometry>
        <mesh filename="package://crab_description/meshes/a_2040_01r_20z_prt.stl" scale="0.001 0.001 0.001"/>
      </geometry>
    </collision>
    <inertial>
      <origin rpy="0 0 0" xyz="0.00488072891732 0.023773447037 0.0321050136792"/>
      <mass value="0.20946875957142486"/>
      <inertia ixx="0.000169129746509" ixy="-4.36461036343e-06" ixz="1.76240049129e-06" iyy="0.000214781632135" iyz="-3.00601654615e-05" izz="0.000117900987106"/>
    </inertial>
  </link>
  <gazebo reference="a_2040_01r_20Z">
    <selfCollide>True</selfCollide>
    <material>Gazebo/Black</material>
    <mu1>0.1</mu1>
    <mu2>0.1</mu2>
    <kp>10000000</kp>
    <kd>1</kd>
    <minDepth>0.0005</minDepth>
    <maxVel>100</maxVel>
  </gazebo>
  <link name="a_2067_01_4Z">
    <visual>
      <origin rpy="0 0 0" xyz="-2.75027898169e-18 -5.94367311552e-18 0.035"/>
      <geometry>
        <mesh filename="package://crab_description/meshes/a_2067_01_4z_prt.stl" scale="0.001 0.001 0.001"/>
      </geometry>
    </visual>
    <collision>
      <origin rpy="0 0 0" xyz="-2.75027898169e-18 -5.94367311552e-18 0.035"/>
      <geometry>
        <mesh filename="package://crab_description/meshes/a_2067_01_4z_prt.stl" scale="0.001 0.001 0.001"/>
      </geometry>
    </collision>
    <inertial>
      <origin rpy="0 0 0" xyz="-3.41062518604e-05 3.0195053085e-05 0.0155998803982"/>
      <mass value="0.10633580428723459"/>
      <inertia ixx="3.77469994947e-05" ixy="0.0" ixz="-2.61103759562e-08" iyy="3.77444953787e-05" iyz="-2.39585861234e-08" izz="2.42776535886e-05"/>
    </inertial>
  </link>
  <gazebo reference="a_2067_01_4Z">
    <selfCollide>True</selfCollide>
    <material>Gazebo/Grey</material>
    <mu1>1.0</mu1>
    <mu2>1.0</mu2>
    <kp>10000000</kp>
    <kd>1</kd>
    <minDepth>0.002</minDepth>
    <maxVel>0</maxVel>
  </gazebo>
  <link name="a_2067_01_3Z">
    <visual>
      <origin rpy="0 0 0" xyz="2.20737603613e-16 8.26718159968e-18 0.035"/>
      <geometry>
        <mesh filename="package://crab_description/meshes/a_2067_01_3z_prt.stl" scale="0.001 0.001 0.001"/>
      </geometry>
    </visual>
    <collision>
      <origin rpy="0 0 0" xyz="2.20737603613e-16 8.26718159968e-18 0.035"/>
      <geometry>
        <mesh filename="package://crab_description/meshes/a_2067_01_3z_prt.stl" scale="0.001 0.001 0.001"/>
      </geometry>
    </collision>
    <inertial>
      <origin rpy="0 0 0" xyz="-3.41062518602e-05 3.0195053085e-05 0.0155998803982"/>
      <mass value="0.10633580428723459"/>
      <inertia ixx="3.77469994947e-05" ixy="0.0" ixz="-2.61103759562e-08" iyy="3.77444953787e-05" iyz="-2.39585861234e-08" izz="2.42776535886e-05"/>
    </inertial>
  </link>
  <gazebo reference="a_2067_01_3Z">
    <selfCollide>True</selfCollide>
    <material>Gazebo/Grey</material>
    <mu1>1.0</mu1>
    <mu2>1.0</mu2>
    <kp>10000000</kp>
    <kd>1</kd>
    <minDepth>0.002</minDepth>
    <maxVel>0</maxVel>
  </gazebo>
  <link name="a_2095_01_45Z">
    <visual>
      <origin rpy="0 0 0" xyz="1e-23 1e-23 1e-23"/>
      <geometry>
        <mesh filename="package://crab_description/meshes/a_2095_01_45z_prt.stl" scale="0.001 0.001 0.001"/>
      </geometry>
    </visual>
    <collision>
      <origin rpy="0 0 0" xyz="1e-23 1e-23 1e-23"/>
      <geometry>
        <mesh filename="package://crab_description/meshes/a_2095_01_45z_prt.stl" scale="0.001 0.001 0.001"/>
      </geometry>
    </collision>
    <inertial>
      <origin rpy="0 0 0" xyz="1e-23 1e-23 0.00602343578398"/>
      <mass value="0.4495849869005886"/>
      <inertia ixx="0.000761142683555" ixy="0.0" ixz="0.0" iyy="0.000761142070916" iyz="0.0" izz="0.00141066589678"/>
    </inertial>
  </link>
  <gazebo reference="a_2095_01_45Z">
    <selfCollide>True</selfCollide>
    <material>Gazebo/Black</material>
    <mu1>0.1</mu1>
    <mu2>0.1</mu2>
    <kp>10000000</kp>
    <kd>1</kd>
    <minDepth>0.0005</minDepth>
    <maxVel>100</maxVel>
  </gazebo>
  <link name="tubepar_30Z">
    <visual>
      <origin rpy="0 0 0" xyz="-8.20357803102e-19 -0.2 -5.03064256918e-15"/>
      <geometry>
        <mesh filename="package://crab_description/meshes/tubepar_30z_prt.stl" scale="0.001 0.001 0.001"/>
      </geometry>
    </visual>
    <collision>
      <origin rpy="0 0 0" xyz="-8.20357803102e-19 -0.2 -5.03064256918e-15"/>
      <geometry>
        <mesh filename="package://crab_description/meshes/tubepar_30z_prt.stl" scale="0.001 0.001 0.001"/>
      </geometry>
    </collision>
    <inertial>
      <origin rpy="0 0 0" xyz="-8.20357803102e-19 -0.1 -5.03064256918e-15"/>
      <mass value="0.08088951519442687"/>
      <inertia ixx="0.00027877880946" ixy="0.0" ixz="0.0" iyy="1.82942036252e-05" iyz="0.0" izz="0.000278778828795"/>
    </inertial>
  </link>
  <gazebo reference="tubepar_30Z">
    <selfCollide>True</selfCollide>
    <material>Gazebo/Grey</material>
    <mu1>0.05</mu1>
    <mu2>0.05</mu2>
    <kp>10000000</kp>
    <kd>1</kd>
    <minDepth>0.0005</minDepth>
    <maxVel>100</maxVel>
  </gazebo>
  <link name="tubepar_40Z">
    <visual>
      <origin rpy="0 0 0" xyz="0.0 0.0 0.0"/>
      <geometry>
        <mesh filename="package://crab_description/meshes/tubepar_40z_prt.stl" scale="0.001 0.001 0.001"/>
      </geometry>
    </visual>
    <collision>
      <origin rpy="0 0 0" xyz="0.0 0.0 0.0"/>
      <geometry>
        <mesh filename="package://crab_description/meshes/tubepar_40z_prt.stl" scale="0.001 0.001 0.001"/>
      </geometry>
    </collision>
    <inertial>
      <origin rpy="0 0 0" xyz="0.0 0.0635 0.0"/>
      <mass value="0.05136484214846103"/>
      <inertia ixx="7.48470317633e-05" ixy="0.0" ixz="0.0" iyy="1.1616819302e-05" iyz="0.0" izz="7.48470440408e-05"/>
    </inertial>
  </link>
  <gazebo reference="tubepar_40Z">
    <selfCollide>True</selfCollide>
    <material>Gazebo/Grey</material>
    <mu1>0.05</mu1>
    <mu2>0.05</mu2>
    <kp>10000000</kp>
    <kd>1</kd>
    <minDepth>0.0005</minDepth>
    <maxVel>100</maxVel>
  </gazebo>
  <link name="tubepar_42Z">
    <visual>
      <origin rpy="0 0 0" xyz="1.51533398302e-19 -0.075 -1.6123233996e-23"/>
      <geometry>
        <mesh filename="package://crab_description/meshes/tubepar_42z_prt.stl" scale="0.001 0.001 0.001"/>
      </geometry>
    </visual>
    <collision>
      <origin rpy="0 0 0" xyz="1.51533398302e-19 -0.075 -1.6123233996e-23"/>
      <geometry>
        <mesh filename="package://crab_description/meshes/tubepar_42z_prt.stl" scale="0.001 0.001 0.001"/>
      </geometry>
    </collision>
    <inertial>
      <origin rpy="0 0 0" xyz="1.51533398302e-19 -0.0375 -1.6123233996e-23"/>
      <mass value="0.030333568197910072"/>
      <inertia ixx="1.76490304682e-05" ixy="0.0" ixz="0.0" iyy="6.86032635943e-06" iyz="0.0" izz="1.76490160767e-05"/>
    </inertial>
  </link>
  <gazebo reference="tubepar_42Z">
    <selfCollide>True</selfCollide>
    <material>Gazebo/Grey</material>
    <mu1>0.05</mu1>
    <mu2>0.05</mu2>
    <kp>10000000</kp>
    <kd>1</kd>
    <minDepth>0.0005</minDepth>
    <maxVel>100</maxVel>
  </gazebo>
  <link name="tubepar_50Z">
    <visual>
      <origin rpy="0 0 0" xyz="1.11022302463e-19 -1.77635683907e-18 -3.07674029841e-18"/>
      <geometry>
        <mesh filename="package://crab_description/meshes/tubepar_50z_prt.stl" scale="0.001 0.001 0.001"/>
      </geometry>
    </visual>
    <collision>
      <origin rpy="0 0 0" xyz="1.11022302463e-19 -1.77635683907e-18 -3.07674029841e-18"/>
      <geometry>
        <mesh filename="package://crab_description/meshes/tubepar_50z_prt.stl" scale="0.001 0.001 0.001"/>
      </geometry>
    </collision>
    <inertial>
      <origin rpy="0 0 0" xyz="1.11022302463e-19 0.0635 -3.07674029841e-18"/>
      <mass value="0.05136484214846103"/>
      <inertia ixx="7.48470317633e-05" ixy="0.0" ixz="0.0" iyy="1.1616819302e-05" iyz="0.0" izz="7.48470440408e-05"/>
    </inertial>
  </link>
  <gazebo reference="tubepar_50Z">
    <selfCollide>True</selfCollide>
    <material>Gazebo/Grey</material>
    <mu1>0.05</mu1>
    <mu2>0.05</mu2>
    <kp>10000000</kp>
    <kd>1</kd>
    <minDepth>0.0005</minDepth>
    <maxVel>100</maxVel>
  </gazebo>
  <link name="tubepar_48Z">
    <visual>
      <origin rpy="0 0 0" xyz="1.13495302842e-19 -0.127 2.27373675443e-16"/>
      <geometry>
        <mesh filename="package://crab_description/meshes/tubepar_48z_prt.stl" scale="0.001 0.001 0.001"/>
      </geometry>
    </visual>
    <collision>
      <origin rpy="0 0 0" xyz="1.13495302842e-19 -0.127 2.27373675443e-16"/>
      <geometry>
        <mesh filename="package://crab_description/meshes/tubepar_48z_prt.stl" scale="0.001 0.001 0.001"/>
      </geometry>
    </collision>
    <inertial>
      <origin rpy="0 0 0" xyz="1.13495302842e-19 -0.0635 2.27373675443e-16"/>
      <mass value="0.05136484214846103"/>
      <inertia ixx="7.48470317633e-05" ixy="0.0" ixz="0.0" iyy="1.1616819302e-05" iyz="0.0" izz="7.48470440408e-05"/>
    </inertial>
  </link>
  <gazebo reference="tubepar_48Z">
    <selfCollide>True</selfCollide>
    <material>Gazebo/Grey</material>
    <mu1>0.05</mu1>
    <mu2>0.05</mu2>
    <kp>10000000</kp>
    <kd>1</kd>
    <minDepth>0.0005</minDepth>
    <maxVel>100</maxVel>
  </gazebo>
  <link name="tubepar_43Z">
    <visual>
      <origin rpy="0 0 0" xyz="1.13495302842e-19 -0.127 2.13162820728e-16"/>
      <geometry>
        <mesh filename="package://crab_description/meshes/tubepar_43z_prt.stl" scale="0.001 0.001 0.001"/>
      </geometry>
    </visual>
    <collision>
      <origin rpy="0 0 0" xyz="1.13495302842e-19 -0.127 2.13162820728e-16"/>
      <geometry>
        <mesh filename="package://crab_description/meshes/tubepar_43z_prt.stl" scale="0.001 0.001 0.001"/>
      </geometry>
    </collision>
    <inertial>
      <origin rpy="0 0 0" xyz="1.13495302842e-19 -0.0635 2.13162820728e-16"/>
      <mass value="0.05136484214846103"/>
      <inertia ixx="7.48470317633e-05" ixy="0.0" ixz="0.0" iyy="1.1616819302e-05" iyz="0.0" izz="7.48470440408e-05"/>
    </inertial>
  </link>
  <gazebo reference="tubepar_43Z">
    <selfCollide>True</selfCollide>
    <material>Gazebo/Grey</material>
    <mu1>0.05</mu1>
    <mu2>0.05</mu2>
    <kp>10000000</kp>
    <kd>1</kd>
    <minDepth>0.0005</minDepth>
    <maxVel>100</maxVel>
  </gazebo>
  <link name="tubepar_44Z">
    <visual>
      <origin rpy="0 0 0" xyz="3.39907530978e-34 6.16297151796e-34 -5.55111124636e-18"/>
      <geometry>
        <mesh filename="package://crab_description/meshes/tubepar_44z_prt.stl" scale="0.001 0.001 0.001"/>
      </geometry>
    </visual>
    <collision>
      <origin rpy="0 0 0" xyz="3.39907530978e-34 6.16297151796e-34 -5.55111124636e-18"/>
      <geometry>
        <mesh filename="package://crab_description/meshes/tubepar_44z_prt.stl" scale="0.001 0.001 0.001"/>
      </geometry>
    </collision>
    <inertial>
      <origin rpy="0 0 0" xyz="3.39907530978e-34 0.0375 -5.55111124636e-18"/>
      <mass value="0.030333568197910072"/>
      <inertia ixx="1.76490304682e-05" ixy="0.0" ixz="0.0" iyy="6.86032635943e-06" iyz="0.0" izz="1.76490160767e-05"/>
    </inertial>
  </link>
  <gazebo reference="tubepar_44Z">
    <selfCollide>True</selfCollide>
    <material>Gazebo/Grey</material>
    <mu1>0.05</mu1>
    <mu2>0.05</mu2>
    <kp>10000000</kp>
    <kd>1</kd>
    <minDepth>0.0005</minDepth>
    <maxVel>100</maxVel>
  </gazebo>
  <link name="tubepar_7Z">
    <visual>
      <origin rpy="0 0 0" xyz="4.32068283077e-18 -0.2 -5.0448534239e-15"/>
      <geometry>
        <mesh filename="package://crab_description/meshes/tubepar_7z_prt.stl" scale="0.001 0.001 0.001"/>
      </geometry>
    </visual>
    <collision>
      <origin rpy="0 0 0" xyz="4.32068283077e-18 -0.2 -5.0448534239e-15"/>
      <geometry>
        <mesh filename="package://crab_description/meshes/tubepar_7z_prt.stl" scale="0.001 0.001 0.001"/>
      </geometry>
    </collision>
    <inertial>
      <origin rpy="0 0 0" xyz="4.32068283077e-18 -0.1 -5.0448534239e-15"/>
      <mass value="0.08088951519442687"/>
      <inertia ixx="0.00027877880946" ixy="0.0" ixz="0.0" iyy="1.82942036252e-05" iyz="0.0" izz="0.000278778828795"/>
    </inertial>
  </link>
  <gazebo reference="tubepar_7Z">
    <selfCollide>True</selfCollide>
    <material>Gazebo/Grey</material>
    <mu1>0.05</mu1>
    <mu2>0.05</mu2>
    <kp>10000000</kp>
    <kd>1</kd>
    <minDepth>0.0005</minDepth>
    <maxVel>100</maxVel>
  </gazebo>
  <link name="tubepar_35Z">
    <visual>
      <origin rpy="0 0 0" xyz="2.78474452683e-18 -0.2 -5.00222085975e-15"/>
      <geometry>
        <mesh filename="package://crab_description/meshes/tubepar_35z_prt.stl" scale="0.001 0.001 0.001"/>
      </geometry>
    </visual>
    <collision>
      <origin rpy="0 0 0" xyz="2.78474452683e-18 -0.2 -5.00222085975e-15"/>
      <geometry>
        <mesh filename="package://crab_description/meshes/tubepar_35z_prt.stl" scale="0.001 0.001 0.001"/>
      </geometry>
    </collision>
    <inertial>
      <origin rpy="0 0 0" xyz="2.78474452683e-18 -0.1 -5.00222085975e-15"/>
      <mass value="0.08088951519442687"/>
      <inertia ixx="0.00027877880946" ixy="0.0" ixz="0.0" iyy="1.82942036252e-05" iyz="0.0" izz="0.000278778828795"/>
    </inertial>
  </link>
  <gazebo reference="tubepar_35Z">
    <selfCollide>True</selfCollide>
    <material>Gazebo/Grey</material>
    <mu1>0.05</mu1>
    <mu2>0.05</mu2>
    <kp>10000000</kp>
    <kd>1</kd>
    <minDepth>0.0005</minDepth>
    <maxVel>100</maxVel>
  </gazebo>
  <link name="tubepar_24Z">
    <visual>
      <origin rpy="0 0 0" xyz="8.20357803102e-19 -0.2 -5.01643171447e-15"/>
      <geometry>
        <mesh filename="package://crab_description/meshes/tubepar_24z_prt.stl" scale="0.001 0.001 0.001"/>
      </geometry>
    </visual>
    <collision>
      <origin rpy="0 0 0" xyz="8.20357803102e-19 -0.2 -5.01643171447e-15"/>
      <geometry>
        <mesh filename="package://crab_description/meshes/tubepar_24z_prt.stl" scale="0.001 0.001 0.001"/>
      </geometry>
    </collision>
    <inertial>
      <origin rpy="0 0 0" xyz="8.20357803102e-19 -0.1 -5.01643171447e-15"/>
      <mass value="0.08088951519442687"/>
      <inertia ixx="0.00027877880946" ixy="0.0" ixz="0.0" iyy="1.82942036252e-05" iyz="0.0" izz="0.000278778828795"/>
    </inertial>
  </link>
  <gazebo reference="tubepar_24Z">
    <selfCollide>True</selfCollide>
    <material>Gazebo/Grey</material>
    <mu1>0.05</mu1>
    <mu2>0.05</mu2>
    <kp>10000000</kp>
    <kd>1</kd>
    <minDepth>0.0005</minDepth>
    <maxVel>100</maxVel>
  </gazebo>
  <link name="tubepar_56Z">
    <visual>
      <origin rpy="0 0 0" xyz="4.84788958735e-18 -0.3 1.31655315772e-17"/>
      <geometry>
        <mesh filename="package://crab_description/meshes/tubepar_56z_prt.stl" scale="0.001 0.001 0.001"/>
      </geometry>
    </visual>
    <collision>
      <origin rpy="0 0 0" xyz="4.84788958735e-18 -0.3 1.31655315772e-17"/>
      <geometry>
        <mesh filename="package://crab_description/meshes/tubepar_56z_prt.stl" scale="0.001 0.001 0.001"/>
      </geometry>
    </collision>
    <inertial>
      <origin rpy="0 0 0" xyz="4.84788958735e-18 -0.15 1.31655315772e-17"/>
      <mass value="0.12133427279164029"/>
      <inertia ixx="0.000923727684155" ixy="0.0" ixz="0.0" iyy="2.74413054377e-05" iyz="0.0" izz="0.000923727713157"/>
    </inertial>
  </link>
  <gazebo reference="tubepar_56Z">
    <selfCollide>True</selfCollide>
    <material>Gazebo/Grey</material>
    <mu1>0.05</mu1>
    <mu2>0.05</mu2>
    <kp>10000000</kp>
    <kd>1</kd>
    <minDepth>0.0005</minDepth>
    <maxVel>100</maxVel>
  </gazebo>
  <link name="tubepar_13Z">
    <visual>
      <origin rpy="0 0 0" xyz="-3.71968293152e-20 -0.3 -6.88989761184e-19"/>
      <geometry>
        <mesh filename="package://crab_description/meshes/tubepar_13z_prt.stl" scale="0.001 0.001 0.001"/>
      </geometry>
    </visual>
    <collision>
      <origin rpy="0 0 0" xyz="-3.71968293152e-20 -0.3 -6.88989761184e-19"/>
      <geometry>
        <mesh filename="package://crab_description/meshes/tubepar_13z_prt.stl" scale="0.001 0.001 0.001"/>
      </geometry>
    </collision>
    <inertial>
      <origin rpy="0 0 0" xyz="-3.71968293152e-20 -0.15 -6.88989761184e-19"/>
      <mass value="0.12133427279164029"/>
      <inertia ixx="0.000923727684155" ixy="0.0" ixz="0.0" iyy="2.74413054377e-05" iyz="0.0" izz="0.000923727713157"/>
    </inertial>
  </link>
  <gazebo reference="tubepar_13Z">
    <selfCollide>True</selfCollide>
    <material>Gazebo/Grey</material>
    <mu1>0.05</mu1>
    <mu2>0.05</mu2>
    <kp>10000000</kp>
    <kd>1</kd>
    <minDepth>0.0005</minDepth>
    <maxVel>100</maxVel>
  </gazebo>
  <link name="tubepar_59Z">
    <visual>
      <origin rpy="0 0 0" xyz="-3.56280822649e-19 -0.3 4.84778447903e-18"/>
      <geometry>
        <mesh filename="package://crab_description/meshes/tubepar_59z_prt.stl" scale="0.001 0.001 0.001"/>
      </geometry>
    </visual>
    <collision>
      <origin rpy="0 0 0" xyz="-3.56280822649e-19 -0.3 4.84778447903e-18"/>
      <geometry>
        <mesh filename="package://crab_description/meshes/tubepar_59z_prt.stl" scale="0.001 0.001 0.001"/>
      </geometry>
    </collision>
    <inertial>
      <origin rpy="0 0 0" xyz="-3.56280822649e-19 -0.15 4.84778447903e-18"/>
      <mass value="0.12133427279164029"/>
      <inertia ixx="0.000923727684155" ixy="0.0" ixz="0.0" iyy="2.74413054377e-05" iyz="0.0" izz="0.000923727713157"/>
    </inertial>
  </link>
  <gazebo reference="tubepar_59Z">
    <selfCollide>True</selfCollide>
    <material>Gazebo/Grey</material>
    <mu1>0.05</mu1>
    <mu2>0.05</mu2>
    <kp>10000000</kp>
    <kd>1</kd>
    <minDepth>0.0005</minDepth>
    <maxVel>100</maxVel>
  </gazebo>
  <link name="tubepar_12Z">
    <visual>
      <origin rpy="0 0 0" xyz="8.96948747589e-18 -0.3 5.20411785584e-18"/>
      <geometry>
        <mesh filename="package://crab_description/meshes/tubepar_12z_prt.stl" scale="0.001 0.001 0.001"/>
      </geometry>
    </visual>
    <collision>
      <origin rpy="0 0 0" xyz="8.96948747589e-18 -0.3 5.20411785584e-18"/>
      <geometry>
        <mesh filename="package://crab_description/meshes/tubepar_12z_prt.stl" scale="0.001 0.001 0.001"/>
      </geometry>
    </collision>
    <inertial>
      <origin rpy="0 0 0" xyz="8.96948747589e-18 -0.15 5.20411785584e-18"/>
      <mass value="0.12133427279164029"/>
      <inertia ixx="0.000923727684155" ixy="0.0" ixz="0.0" iyy="2.74413054377e-05" iyz="0.0" izz="0.000923727713157"/>
    </inertial>
  </link>
  <gazebo reference="tubepar_12Z">
    <selfCollide>True</selfCollide>
    <material>Gazebo/Grey</material>
    <mu1>0.05</mu1>
    <mu2>0.05</mu2>
    <kp>10000000</kp>
    <kd>1</kd>
    <minDepth>0.0005</minDepth>
    <maxVel>100</maxVel>
  </gazebo>
  <link name="pm-2132-01_29Z">
    <visual>
      <origin rpy="0 0 0" xyz="0.0 0.0 0.0"/>
      <geometry>
        <mesh filename="package://crab_description/meshes/pm-2132-01_29z_prt.stl" scale="0.001 0.001 0.001"/>
      </geometry>
    </visual>
    <collision>
      <origin rpy="0 0 0" xyz="0.0 0.0 0.0"/>
      <geometry>
        <mesh filename="package://crab_description/meshes/pm-2132-01_29z_prt.stl" scale="0.001 0.001 0.001"/>
      </geometry>
    </collision>
    <inertial>
      <origin rpy="0 0 0" xyz="-0.00279899640977 -0.0249156289308 0.0217621079736"/>
      <mass value="0.00011123944034828995"/>
      <inertia ixx="8.27045310277e-08" ixy="3.91246560309e-09" ixz="1.30533871091e-09" iyy="8.43993472647e-08" iyz="2.34003348491e-08" izz="7.43473287776e-08"/>
    </inertial>
  </link>
  <gazebo reference="pm-2132-01_29Z">
    <selfCollide>True</selfCollide>
    <material>Gazebo/Grey</material>
    <mu1>0.1</mu1>
    <mu2>0.1</mu2>
    <kp>10000000</kp>
    <kd>1</kd>
    <minDepth>0.0005</minDepth>
    <maxVel>100</maxVel>
  </gazebo>
  <link name="pm-2132-01_6Z">
    <visual>
      <origin rpy="0 0 0" xyz="1.21687158476e-32 7.83812846119e-33 -7.1054273576e-18"/>
      <geometry>
        <mesh filename="package://crab_description/meshes/pm-2132-01_6z_prt.stl" scale="0.001 0.001 0.001"/>
      </geometry>
    </visual>
    <collision>
      <origin rpy="0 0 0" xyz="1.21687158476e-32 7.83812846119e-33 -7.1054273576e-18"/>
      <geometry>
        <mesh filename="package://crab_description/meshes/pm-2132-01_6z_prt.stl" scale="0.001 0.001 0.001"/>
      </geometry>
    </collision>
    <inertial>
      <origin rpy="0 0 0" xyz="-0.00279899640977 -0.0249156289308 0.0217621079736"/>
      <mass value="0.00011123944034828995"/>
      <inertia ixx="8.27045310277e-08" ixy="3.91246560309e-09" ixz="1.30533871091e-09" iyy="8.43993472647e-08" iyz="2.34003348491e-08" izz="7.43473287776e-08"/>
    </inertial>
  </link>
  <gazebo reference="pm-2132-01_6Z">
    <selfCollide>True</selfCollide>
    <material>Gazebo/Grey</material>
    <mu1>0.1</mu1>
    <mu2>0.1</mu2>
    <kp>10000000</kp>
    <kd>1</kd>
    <minDepth>0.0005</minDepth>
    <maxVel>100</maxVel>
  </gazebo>
  <link name="pm-2132-01_33Z">
    <visual>
      <origin rpy="0 0 0" xyz="-1.21687158476e-32 -7.9390895775e-33 7.1054273576e-18"/>
      <geometry>
        <mesh filename="package://crab_description/meshes/pm-2132-01_33z_prt.stl" scale="0.001 0.001 0.001"/>
      </geometry>
    </visual>
    <collision>
      <origin rpy="0 0 0" xyz="-1.21687158476e-32 -7.9390895775e-33 7.1054273576e-18"/>
      <geometry>
        <mesh filename="package://crab_description/meshes/pm-2132-01_33z_prt.stl" scale="0.001 0.001 0.001"/>
      </geometry>
    </collision>
    <inertial>
      <origin rpy="0 0 0" xyz="-0.00279899640977 -0.0249156289308 0.0217621079736"/>
      <mass value="0.00011123944034828995"/>
      <inertia ixx="8.27045310277e-08" ixy="3.91246560309e-09" ixz="1.30533871091e-09" iyy="8.43993472647e-08" iyz="2.34003348491e-08" izz="7.43473287776e-08"/>
    </inertial>
  </link>
  <gazebo reference="pm-2132-01_33Z">
    <selfCollide>True</selfCollide>
    <material>Gazebo/Grey</material>
    <mu1>0.1</mu1>
    <mu2>0.1</mu2>
    <kp>10000000</kp>
    <kd>1</kd>
    <minDepth>0.0005</minDepth>
    <maxVel>100</maxVel>
  </gazebo>
  <link name="pm-2132-01_22Z">
    <visual>
      <origin rpy="0 0 0" xyz="0.0 0.0 0.0"/>
      <geometry>
        <mesh filename="package://crab_description/meshes/pm-2132-01_22z_prt.stl" scale="0.001 0.001 0.001"/>
      </geometry>
    </visual>
    <collision>
      <origin rpy="0 0 0" xyz="0.0 0.0 0.0"/>
      <geometry>
        <mesh filename="package://crab_description/meshes/pm-2132-01_22z_prt.stl" scale="0.001 0.001 0.001"/>
      </geometry>
    </collision>
    <inertial>
      <origin rpy="0 0 0" xyz="-0.00279899640977 -0.0249156289308 0.0217621079736"/>
      <mass value="0.00011123944034828995"/>
      <inertia ixx="8.27045310277e-08" ixy="3.91246560309e-09" ixz="1.30533871091e-09" iyy="8.43993472647e-08" iyz="2.34003348491e-08" izz="7.43473287776e-08"/>
    </inertial>
  </link>
  <gazebo reference="pm-2132-01_22Z">
    <selfCollide>True</selfCollide>
    <material>Gazebo/Grey</material>
    <mu1>0.1</mu1>
    <mu2>0.1</mu2>
    <kp>10000000</kp>
    <kd>1</kd>
    <minDepth>0.0005</minDepth>
    <maxVel>100</maxVel>
  </gazebo>
  <link name="pm_2155_01_21Z">
    <visual>
      <origin rpy="0 0 0" xyz="-0.00099182129 -0.0071643037 -0.000236828"/>
      <geometry>
        <mesh filename="package://crab_description/meshes/pm_2155_01_21z_prt.stl" scale="0.001 0.001 0.001"/>
      </geometry>
    </visual>
    <collision>
      <origin rpy="0 0 0" xyz="-0.00099182129 -0.0071643037 -0.000236828"/>
      <geometry>
        <mesh filename="package://crab_description/meshes/pm_2155_01_21z_prt.stl" scale="0.001 0.001 0.001"/>
      </geometry>
    </collision>
    <inertial>
      <origin rpy="0 0 0" xyz="1.34037442348e-07 1.11051366723e-07 0.00499989583184"/>
      <mass value="0.052674179644478125"/>
      <inertia ixx="1.14786537077e-05" ixy="0.0" ixz="0.0" iyy="1.14786271535e-05" iyz="0.0" izz="2.18768701014e-05"/>
    </inertial>
  </link>
  <gazebo reference="pm_2155_01_21Z">
    <selfCollide>True</selfCollide>
    <material>Gazebo/Grey</material>
    <mu1>0.1</mu1>
    <mu2>0.1</mu2>
    <kp>10000000</kp>
    <kd>1</kd>
    <minDepth>0</minDepth>
    <maxVel>100</maxVel>
  </gazebo>
  <link name="pm_2155_01_1Z">
    <visual>
      <origin rpy="0 0 0" xyz="-0.00099182129 -0.0071643037 -0.000236828"/>
      <geometry>
        <mesh filename="package://crab_description/meshes/pm_2155_01_1z_prt.stl" scale="0.001 0.001 0.001"/>
      </geometry>
    </visual>
    <collision>
      <origin rpy="0 0 0" xyz="-0.00099182129 -0.0071643037 -0.000236828"/>
      <geometry>
        <mesh filename="package://crab_description/meshes/pm_2155_01_1z_prt.stl" scale="0.001 0.001 0.001"/>
      </geometry>
    </collision>
    <inertial>
      <origin rpy="0 0 0" xyz="1.34037442367e-07 1.11051366695e-07 0.00499989583184"/>
      <mass value="0.052674179644478125"/>
      <inertia ixx="1.14786537077e-05" ixy="0.0" ixz="0.0" iyy="1.14786271535e-05" iyz="0.0" izz="2.18768701014e-05"/>
    </inertial>
  </link>
  <gazebo reference="pm_2155_01_1Z">
    <selfCollide>True</selfCollide>
    <material>Gazebo/Grey</material>
    <mu1>0.1</mu1>
    <mu2>0.1</mu2>
    <kp>10000000</kp>
    <kd>1</kd>
    <minDepth>0</minDepth>
    <maxVel>100</maxVel>
  </gazebo>
  <link name="pm_2155_01_28Z">
    <visual>
      <origin rpy="0 0 0" xyz="-0.00099182129 -0.0071643037 -0.000236828"/>
      <geometry>
        <mesh filename="package://crab_description/meshes/pm_2155_01_28z_prt.stl" scale="0.001 0.001 0.001"/>
      </geometry>
    </visual>
    <collision>
      <origin rpy="0 0 0" xyz="-0.00099182129 -0.0071643037 -0.000236828"/>
      <geometry>
        <mesh filename="package://crab_description/meshes/pm_2155_01_28z_prt.stl" scale="0.001 0.001 0.001"/>
      </geometry>
    </collision>
    <inertial>
      <origin rpy="0 0 0" xyz="1.34037442405e-07 1.11051366723e-07 0.00499989583184"/>
      <mass value="0.052674179644478125"/>
      <inertia ixx="1.14786537077e-05" ixy="0.0" ixz="0.0" iyy="1.14786271535e-05" iyz="0.0" izz="2.18768701014e-05"/>
    </inertial>
  </link>
  <gazebo reference="pm_2155_01_28Z">
    <selfCollide>True</selfCollide>
    <material>Gazebo/Grey</material>
    <mu1>0.1</mu1>
    <mu2>0.1</mu2>
    <kp>10000000</kp>
    <kd>1</kd>
    <minDepth>0</minDepth>
    <maxVel>100</maxVel>
  </gazebo>
  <link name="pm_2155_01_53Z">
    <visual>
      <origin rpy="0 0 0" xyz="-0.00099182129 -0.0071643037 -0.000236828"/>
      <geometry>
        <mesh filename="package://crab_description/meshes/pm_2155_01_53z_prt.stl" scale="0.001 0.001 0.001"/>
      </geometry>
    </visual>
    <collision>
      <origin rpy="0 0 0" xyz="-0.00099182129 -0.0071643037 -0.000236828"/>
      <geometry>
        <mesh filename="package://crab_description/meshes/pm_2155_01_53z_prt.stl" scale="0.001 0.001 0.001"/>
      </geometry>
    </collision>
    <inertial>
      <origin rpy="0 0 0" xyz="1.34037442366e-07 1.11051366695e-07 0.00499989583184"/>
      <mass value="0.052674179644478125"/>
      <inertia ixx="1.14786537077e-05" ixy="0.0" ixz="0.0" iyy="1.14786271535e-05" iyz="0.0" izz="2.18768701014e-05"/>
    </inertial>
  </link>
  <gazebo reference="pm_2155_01_53Z">
    <selfCollide>True</selfCollide>
    <material>Gazebo/Grey</material>
    <mu1>0.1</mu1>
    <mu2>0.1</mu2>
    <kp>10000000</kp>
    <kd>1</kd>
    <minDepth>0</minDepth>
    <maxVel>100</maxVel>
  </gazebo>
  <link name="pp_2074_08_65Z">
    <visual>
      <origin rpy="0 0 0" xyz="1.72185932402e-12 -1.62742449471e-11 0.03175"/>
      <geometry>
        <mesh filename="package://crab_description/meshes/pp_2074_08_65z_prt.stl" scale="0.001 0.001 0.001"/>
      </geometry>
    </visual>
    <collision>
      <origin rpy="0 0 0" xyz="1.72185932402e-12 -1.62742449471e-11 0.03175"/>
      <geometry>
        <mesh filename="package://crab_description/meshes/pp_2074_08_65z_prt.stl" scale="0.001 0.001 0.001"/>
      </geometry>
    </collision>
    <inertial>
      <origin rpy="0 0 0" xyz="-5.78060531661e-07 4.17592389199e-07 0.0190499354094"/>
      <mass value="0.7635860425050807"/>
      <inertia ixx="0.002680677325" ixy="0.0" ixz="0.0" iyy="0.00268067446492" iyz="0.0" izz="0.00527682335031"/>
    </inertial>
  </link>
  <gazebo reference="pp_2074_08_65Z">
    <selfCollide>True</selfCollide>
    <material>Gazebo/Black</material>
    <mu1>0.7</mu1>
    <mu2>0.7</mu2>
    <kp>1000000</kp>
    <kd>1</kd>
    <minDepth>0.001</minDepth>
    <maxVel>50</maxVel>
  </gazebo>
  <link name="pp_2074_08_27Z">
    <visual>
      <origin rpy="0 0 0" xyz="-4.93542465955e-12 5.74863970326e-12 0.03175"/>
      <geometry>
        <mesh filename="package://crab_description/meshes/pp_2074_08_27z_prt.stl" scale="0.001 0.001 0.001"/>
      </geometry>
    </visual>
    <collision>
      <origin rpy="0 0 0" xyz="-4.93542465955e-12 5.74863970326e-12 0.03175"/>
      <geometry>
        <mesh filename="package://crab_description/meshes/pp_2074_08_27z_prt.stl" scale="0.001 0.001 0.001"/>
      </geometry>
    </collision>
    <inertial>
      <origin rpy="0 0 0" xyz="-5.78067188945e-07 4.17614412083e-07 0.0190499354094"/>
      <mass value="0.7635860425050807"/>
      <inertia ixx="0.002680677325" ixy="0.0" ixz="0.0" iyy="0.00268067446492" iyz="0.0" izz="0.00527682335031"/>
    </inertial>
  </link>
  <gazebo reference="pp_2074_08_27Z">
    <selfCollide>True</selfCollide>
    <material>Gazebo/Black</material>
    <mu1>0.7</mu1>
    <mu2>0.7</mu2>
    <kp>1000000</kp>
    <kd>1</kd>
    <minDepth>0.001</minDepth>
    <maxVel>50</maxVel>
  </gazebo>
  <link name="pp_2074_08_2Z">
    <visual>
      <origin rpy="0 0 0" xyz="-4.70909948254e-12 4.70775518968e-12 0.03175"/>
      <geometry>
        <mesh filename="package://crab_description/meshes/pp_2074_08_2z_prt.stl" scale="0.001 0.001 0.001"/>
      </geometry>
    </visual>
    <collision>
      <origin rpy="0 0 0" xyz="-4.70909948254e-12 4.70775518968e-12 0.03175"/>
      <geometry>
        <mesh filename="package://crab_description/meshes/pp_2074_08_2z_prt.stl" scale="0.001 0.001 0.001"/>
      </geometry>
    </collision>
    <inertial>
      <origin rpy="0 0 0" xyz="-5.7806696262e-07 4.17613371199e-07 0.0190499354094"/>
      <mass value="0.7635860425050807"/>
      <inertia ixx="0.002680677325" ixy="0.0" ixz="0.0" iyy="0.00268067446492" iyz="0.0" izz="0.00527682335031"/>
    </inertial>
  </link>
  <gazebo reference="pp_2074_08_2Z">
    <selfCollide>True</selfCollide>
    <material>Gazebo/Black</material>
    <mu1>0.7</mu1>
    <mu2>0.7</mu2>
    <kp>1000000</kp>
    <kd>1</kd>
    <minDepth>0.001</minDepth>
    <maxVel>50</maxVel>
  </gazebo>
  <link name="pp_2074_08_5Z">
    <visual>
      <origin rpy="0 0 0" xyz="3.39674687669e-12 3.39475584209e-12 0.03175"/>
      <geometry>
        <mesh filename="package://crab_description/meshes/pp_2074_08_5z_prt.stl" scale="0.001 0.001 0.001"/>
      </geometry>
    </visual>
    <collision>
      <origin rpy="0 0 0" xyz="3.39674687669e-12 3.39475584209e-12 0.03175"/>
      <geometry>
        <mesh filename="package://crab_description/meshes/pp_2074_08_5z_prt.stl" scale="0.001 0.001 0.001"/>
      </geometry>
    </collision>
    <inertial>
      <origin rpy="0 0 0" xyz="-5.78058856773e-07 4.176120582e-07 0.0190499354094"/>
      <mass value="0.7635860425050807"/>
      <inertia ixx="0.002680677325" ixy="0.0" ixz="0.0" iyy="0.00268067446492" iyz="0.0" izz="0.00527682335031"/>
    </inertial>
  </link>
  <gazebo reference="pp_2074_08_5Z">
    <selfCollide>True</selfCollide>
    <material>Gazebo/Black</material>
    <mu1>0.7</mu1>
    <mu2>0.7</mu2>
    <kp>1000000</kp>
    <kd>1</kd>
    <minDepth>0.001</minDepth>
    <maxVel>50</maxVel>
  </gazebo>
  <link name="hebi_x5_1_57Z">
    <visual>
      <origin rpy="0 0 0" xyz="-1.59502462615e-18 -5.14937369808e-18 0.015"/>
      <geometry>
        <mesh filename="package://crab_description/meshes/hebi_x5_1_57z_prt.stl" scale="0.001 0.001 0.001"/>
      </geometry>
    </visual>
    <collision>
      <origin rpy="0 0 0" xyz="-1.59502462615e-18 -5.14937369808e-18 0.015"/>
      <geometry>
        <mesh filename="package://crab_description/meshes/hebi_x5_1_57z_prt.stl" scale="0.001 0.001 0.001"/>
      </geometry>
    </collision>
    <inertial>
      <origin rpy="0 0 0" xyz="-0.0142019322139 -0.00151173442654 0.0150064707722"/>
      <mass value="0.31314990731599424"/>
      <inertia ixx="0.000130134484577" ixy="-1.76457619391e-05" ixz="1.18542673976e-08" iyy="0.00022573878578" iyz="1.19840924602e-07" izz="0.000308861203858"/>
    </inertial>
  </link>
  <gazebo reference="hebi_x5_1_57Z">
    <selfCollide>True</selfCollide>
    <material>Gazebo/Red</material>
    <mu1>0.1</mu1>
    <mu2>0.1</mu2>
    <kp>10000000</kp>
    <kd>1</kd>
    <minDepth>0.001</minDepth>
    <maxVel>100</maxVel>
    <sensor name="LeftArm/Wrist/imu_sensor" type="imu">
      <always_on>true</always_on>
      <update_rate>100</update_rate>
      <visualize>true</visualize>
      <plugin filename="libgazebo_ros_imu_sensor.so" name="imu_plugin">
        <topicName>/hebiros_gazebo_plugin/imu/LeftArm/Wrist</topicName>
        <bodyName>LeftArm/Wrist/imu_link</bodyName>
        <updateRateHZ>10.0</updateRateHZ>
        <gaussianNoise>0.0</gaussianNoise>
        <xyzOffset>0.025 0 0.003</xyzOffset>
        <rpyOffset>0 0 0</rpyOffset>
        <frameName>LeftArm/Wrist/imu_link</frameName>
      </plugin>
      <pose>0 0 0 0 0 0</pose>
    </sensor>
  </gazebo>
  <link name="hebi_x5_1_15Z">
    <visual>
      <origin rpy="0 0 0" xyz="-3.26036441851e-18 -5.14937369808e-18 0.015"/>
      <geometry>
        <mesh filename="package://crab_description/meshes/hebi_x5_1_15z_prt.stl" scale="0.001 0.001 0.001"/>
      </geometry>
    </visual>
    <collision>
      <origin rpy="0 0 0" xyz="-3.26036441851e-18 -5.14937369808e-18 0.015"/>
      <geometry>
        <mesh filename="package://crab_description/meshes/hebi_x5_1_15z_prt.stl" scale="0.001 0.001 0.001"/>
      </geometry>
    </collision>
    <inertial>
      <origin rpy="0 0 0" xyz="-0.0142019322139 -0.00151173442654 0.0150064707722"/>
      <mass value="0.31314990731599424"/>
      <inertia ixx="0.000130134484577" ixy="-1.76457619391e-05" ixz="1.18542673976e-08" iyy="0.00022573878578" iyz="1.19840924602e-07" izz="0.000308861203858"/>
    </inertial>
  </link>
  <gazebo reference="hebi_x5_1_15Z">
    <selfCollide>True</selfCollide>
    <material>Gazebo/Red</material>
    <mu1>0.1</mu1>
    <mu2>0.1</mu2>
    <kp>10000000</kp>
    <kd>1</kd>
    <minDepth>0.001</minDepth>
    <maxVel>100</maxVel>
    <sensor name="RightArm/Wrist/imu_sensor" type="imu">
      <always_on>true</always_on>
      <update_rate>100</update_rate>
      <visualize>true</visualize>
      <plugin filename="libgazebo_ros_imu_sensor.so" name="imu_plugin">
        <topicName>/hebiros_gazebo_plugin/imu/RightArm/Wrist</topicName>
        <bodyName>RightArm/Wrist/imu_link</bodyName>
        <updateRateHZ>10.0</updateRateHZ>
        <gaussianNoise>0.0</gaussianNoise>
        <xyzOffset>0.025 0 0.003</xyzOffset>
        <rpyOffset>0 0 0</rpyOffset>
        <frameName>RightArm/Wrist/imu_link</frameName>
      </plugin>
      <pose>0 0 0 0 0 0</pose>
    </sensor>
  </gazebo>
  <link name="hebi_x5_4_26Z">
    <visual>
      <origin rpy="0 0 0" xyz="-5.37843975414e-17 1.46585342226e-16 0.015"/>
      <geometry>
        <mesh filename="package://crab_description/meshes/hebi_x5_4_26z_prt.stl" scale="0.001 0.001 0.001"/>
      </geometry>
    </visual>
    <collision>
      <origin rpy="0 0 0" xyz="-5.37843975414e-17 1.46585342226e-16 0.015"/>
      <geometry>
        <mesh filename="package://crab_description/meshes/hebi_x5_4_26z_prt.stl" scale="0.001 0.001 0.001"/>
      </geometry>
    </collision>
    <inertial>
      <origin rpy="0 0 0" xyz="-0.0142019322139 -0.00151173442654 0.0150064707722"/>
      <mass value="0.33507040082811385"/>
      <inertia ixx="0.000139243898497" ixy="-1.88809652748e-05" ixz="1.26840661154e-08" iyy="0.000241540500785" iyz="1.28229789324e-07" izz="0.000330481488128"/>
    </inertial>
  </link>
  <gazebo reference="hebi_x5_4_26Z">
    <selfCollide>True</selfCollide>
    <material>Gazebo/Red</material>
    <mu1>0.1</mu1>
    <mu2>0.1</mu2>
    <kp>10000000</kp>
    <kd>1</kd>
    <minDepth>0.001</minDepth>
    <maxVel>100</maxVel>
    <sensor name="FrontRightLeg/Wheel/imu_sensor" type="imu">
      <always_on>true</always_on>
      <update_rate>100</update_rate>
      <visualize>true</visualize>
      <plugin filename="libgazebo_ros_imu_sensor.so" name="imu_plugin">
        <topicName>/hebiros_gazebo_plugin/imu/FrontRightLeg/Wheel</topicName>
        <bodyName>FrontRightLeg/Wheel/imu_link</bodyName>
        <updateRateHZ>10.0</updateRateHZ>
        <gaussianNoise>0.0</gaussianNoise>
        <xyzOffset>0.025 0 0.003</xyzOffset>
        <rpyOffset>0 0 0</rpyOffset>
        <frameName>FrontRightLeg/Wheel/imu_link</frameName>
      </plugin>
      <pose>0 0 0 0 0 0</pose>
    </sensor>
  </gazebo>
  <link name="hebi_x5_4_58Z">
    <visual>
      <origin rpy="0 0 0" xyz="-5.79180290737e-17 -2.49799181e-18 0.015"/>
      <geometry>
        <mesh filename="package://crab_description/meshes/hebi_x5_4_58z_prt.stl" scale="0.001 0.001 0.001"/>
      </geometry>
    </visual>
    <collision>
      <origin rpy="0 0 0" xyz="-5.79180290737e-17 -2.49799181e-18 0.015"/>
      <geometry>
        <mesh filename="package://crab_description/meshes/hebi_x5_4_58z_prt.stl" scale="0.001 0.001 0.001"/>
      </geometry>
    </collision>
    <inertial>
      <origin rpy="0 0 0" xyz="-0.0142019322139 -0.00151173442654 0.0150064707722"/>
      <mass value="0.33507040082811385"/>
      <inertia ixx="0.000139243898497" ixy="-1.88809652748e-05" ixz="1.26840661154e-08" iyy="0.000241540500785" iyz="1.28229789324e-07" izz="0.000330481488128"/>
    </inertial>
  </link>
  <gazebo reference="hebi_x5_4_58Z">
    <selfCollide>True</selfCollide>
    <material>Gazebo/Red</material>
    <mu1>0.1</mu1>
    <mu2>0.1</mu2>
    <kp>10000000</kp>
    <kd>1</kd>
    <minDepth>0.001</minDepth>
    <maxVel>100</maxVel>
    <sensor name="LeftArm/Base/imu_sensor" type="imu">
      <always_on>true</always_on>
      <update_rate>100</update_rate>
      <visualize>true</visualize>
      <plugin filename="libgazebo_ros_imu_sensor.so" name="imu_plugin">
        <topicName>/hebiros_gazebo_plugin/imu/LeftArm/Base</topicName>
        <bodyName>LeftArm/Base/imu_link</bodyName>
        <updateRateHZ>10.0</updateRateHZ>
        <gaussianNoise>0.0</gaussianNoise>
        <xyzOffset>0.025 0 0.003</xyzOffset>
        <rpyOffset>0 0 0</rpyOffset>
        <frameName>LeftArm/Base/imu_link</frameName>
      </plugin>
      <pose>0 0 0 0 0 0</pose>
    </sensor>
  </gazebo>
  <link name="hebi_x5_4_16Z">
    <visual>
      <origin rpy="0 0 0" xyz="-5.60810588749e-17 -2.49799181e-18 0.015"/>
      <geometry>
        <mesh filename="package://crab_description/meshes/hebi_x5_4_16z_prt.stl" scale="0.001 0.001 0.001"/>
      </geometry>
    </visual>
    <collision>
      <origin rpy="0 0 0" xyz="-5.60810588749e-17 -2.49799181e-18 0.015"/>
      <geometry>
        <mesh filename="package://crab_description/meshes/hebi_x5_4_16z_prt.stl" scale="0.001 0.001 0.001"/>
      </geometry>
    </collision>
    <inertial>
      <origin rpy="0 0 0" xyz="-0.0142019322139 -0.00151173442654 0.0150064707722"/>
      <mass value="0.33507040082811385"/>
      <inertia ixx="0.000139243898497" ixy="-1.88809652748e-05" ixz="1.26840661154e-08" iyy="0.000241540500785" iyz="1.28229789324e-07" izz="0.000330481488128"/>
    </inertial>
  </link>
  <gazebo reference="hebi_x5_4_16Z">
    <selfCollide>True</selfCollide>
    <material>Gazebo/Red</material>
    <mu1>0.1</mu1>
    <mu2>0.1</mu2>
    <kp>10000000</kp>
    <kd>1</kd>
    <minDepth>0.001</minDepth>
    <maxVel>100</maxVel>
    <sensor name="RightArm/Base/imu_sensor" type="imu">
      <always_on>true</always_on>
      <update_rate>100</update_rate>
      <visualize>true</visualize>
      <plugin filename="libgazebo_ros_imu_sensor.so" name="imu_plugin">
        <topicName>/hebiros_gazebo_plugin/imu/RightArm/Base</topicName>
        <bodyName>RightArm/Base/imu_link</bodyName>
        <updateRateHZ>10.0</updateRateHZ>
        <gaussianNoise>0.0</gaussianNoise>
        <xyzOffset>0.025 0 0.003</xyzOffset>
        <rpyOffset>0 0 0</rpyOffset>
        <frameName>RightArm/Base/imu_link</frameName>
      </plugin>
      <pose>0 0 0 0 0 0</pose>
    </sensor>
  </gazebo>
  <link name="hebi_x5_4_39Z">
    <visual>
      <origin rpy="0 0 0" xyz="-7.03267206152e-17 1.40487758106e-17 0.015"/>
      <geometry>
        <mesh filename="package://crab_description/meshes/hebi_x5_4_39z_prt.stl" scale="0.001 0.001 0.001"/>
      </geometry>
    </visual>
    <collision>
      <origin rpy="0 0 0" xyz="-7.03267206152e-17 1.40487758106e-17 0.015"/>
      <geometry>
        <mesh filename="package://crab_description/meshes/hebi_x5_4_39z_prt.stl" scale="0.001 0.001 0.001"/>
      </geometry>
    </collision>
    <inertial>
      <origin rpy="0 0 0" xyz="-0.0142019322139 -0.00151173442654 0.0150064707722"/>
      <mass value="0.33507040082811385"/>
      <inertia ixx="0.000139243898497" ixy="-1.88809652748e-05" ixz="1.26840661154e-08" iyy="0.000241540500785" iyz="1.28229789324e-07" izz="0.000330481488128"/>
    </inertial>
  </link>
  <gazebo reference="hebi_x5_4_39Z">
    <selfCollide>True</selfCollide>
    <material>Gazebo/Red</material>
    <mu1>0.1</mu1>
    <mu2>0.1</mu2>
    <kp>10000000</kp>
    <kd>1</kd>
    <minDepth>0.001</minDepth>
    <maxVel>100</maxVel>
    <sensor name="BackRightLeg/Wheel/imu_sensor" type="imu">
      <always_on>true</always_on>
      <update_rate>100</update_rate>
      <visualize>true</visualize>
      <plugin filename="libgazebo_ros_imu_sensor.so" name="imu_plugin">
        <topicName>/hebiros_gazebo_plugin/imu/BackRightLeg/Wheel</topicName>
        <bodyName>BackRightLeg/Wheel/imu_link</bodyName>
        <updateRateHZ>10.0</updateRateHZ>
        <gaussianNoise>0.0</gaussianNoise>
        <xyzOffset>0.025 0 0.003</xyzOffset>
        <rpyOffset>0 0 0</rpyOffset>
        <frameName>BackRightLeg/Wheel/imu_link</frameName>
      </plugin>
      <pose>0 0 0 0 0 0</pose>
    </sensor>
  </gazebo>
  <link name="hebi_x5_4_37Z">
    <visual>
      <origin rpy="0 0 0" xyz="-5.37843975414e-17 1.32833730061e-16 0.015"/>
      <geometry>
        <mesh filename="package://crab_description/meshes/hebi_x5_4_37z_prt.stl" scale="0.001 0.001 0.001"/>
      </geometry>
    </visual>
    <collision>
      <origin rpy="0 0 0" xyz="-5.37843975414e-17 1.32833730061e-16 0.015"/>
      <geometry>
        <mesh filename="package://crab_description/meshes/hebi_x5_4_37z_prt.stl" scale="0.001 0.001 0.001"/>
      </geometry>
    </collision>
    <inertial>
      <origin rpy="0 0 0" xyz="-0.0142019322139 -0.00151173442654 0.0150064707722"/>
      <mass value="0.33507040082811385"/>
      <inertia ixx="0.000139243898497" ixy="-1.88809652748e-05" ixz="1.26840661154e-08" iyy="0.000241540500785" iyz="1.28229789324e-07" izz="0.000330481488128"/>
    </inertial>
  </link>
  <gazebo reference="hebi_x5_4_37Z">
    <selfCollide>True</selfCollide>
    <material>Gazebo/Red</material>
    <mu1>0.1</mu1>
    <mu2>0.1</mu2>
    <kp>10000000</kp>
    <kd>1</kd>
    <minDepth>0.001</minDepth>
    <maxVel>100</maxVel>
    <sensor name="BackLeftLeg/Wheel/imu_sensor" type="imu">
      <always_on>true</always_on>
      <update_rate>100</update_rate>
      <visualize>true</visualize>
      <plugin filename="libgazebo_ros_imu_sensor.so" name="imu_plugin">
        <topicName>/hebiros_gazebo_plugin/imu/BackLeftLeg/Wheel</topicName>
        <bodyName>BackLeftLeg/Wheel/imu_link</bodyName>
        <updateRateHZ>10.0</updateRateHZ>
        <gaussianNoise>0.0</gaussianNoise>
        <xyzOffset>0.025 0 0.003</xyzOffset>
        <rpyOffset>0 0 0</rpyOffset>
        <frameName>BackLeftLeg/Wheel/imu_link</frameName>
      </plugin>
      <pose>0 0 0 0 0 0</pose>
    </sensor>
  </gazebo>
  <link name="hebi_x5_4_38Z">
    <visual>
      <origin rpy="0 0 0" xyz="-7.03267206152e-17 2.87188730754e-17 0.015"/>
      <geometry>
        <mesh filename="package://crab_description/meshes/hebi_x5_4_38z_prt.stl" scale="0.001 0.001 0.001"/>
      </geometry>
    </visual>
    <collision>
      <origin rpy="0 0 0" xyz="-7.03267206152e-17 2.87188730754e-17 0.015"/>
      <geometry>
        <mesh filename="package://crab_description/meshes/hebi_x5_4_38z_prt.stl" scale="0.001 0.001 0.001"/>
      </geometry>
    </collision>
    <inertial>
      <origin rpy="0 0 0" xyz="-0.0142019322139 -0.00151173442654 0.0150064707722"/>
      <mass value="0.33507040082811385"/>
      <inertia ixx="0.000139243898497" ixy="-1.88809652748e-05" ixz="1.26840661154e-08" iyy="0.000241540500785" iyz="1.28229789324e-07" izz="0.000330481488128"/>
    </inertial>
  </link>
  <gazebo reference="hebi_x5_4_38Z">
    <selfCollide>True</selfCollide>
    <material>Gazebo/Red</material>
    <mu1>0.1</mu1>
    <mu2>0.1</mu2>
    <kp>10000000</kp>
    <kd>1</kd>
    <minDepth>0.001</minDepth>
    <maxVel>100</maxVel>
    <sensor name="FrontLeftLeg/Wheel/imu_sensor" type="imu">
      <always_on>true</always_on>
      <update_rate>100</update_rate>
      <visualize>true</visualize>
      <plugin filename="libgazebo_ros_imu_sensor.so" name="imu_plugin">
        <topicName>/hebiros_gazebo_plugin/imu/FrontLeftLeg/Wheel</topicName>
        <bodyName>FrontLeftLeg/Wheel/imu_link</bodyName>
        <updateRateHZ>10.0</updateRateHZ>
        <gaussianNoise>0.0</gaussianNoise>
        <xyzOffset>0.025 0 0.003</xyzOffset>
        <rpyOffset>0 0 0</rpyOffset>
        <frameName>FrontLeftLeg/Wheel/imu_link</frameName>
      </plugin>
      <pose>0 0 0 0 0 0</pose>
    </sensor>
  </gazebo>
  <link name="hebi_x5_4_64Z">
    <visual>
      <origin rpy="0 0 0" xyz="-5.58208529822e-17 -5.14937369808e-18 0.015"/>
      <geometry>
        <mesh filename="package://crab_description/meshes/hebi_x5_4_64z_prt.stl" scale="0.001 0.001 0.001"/>
      </geometry>
    </visual>
    <collision>
      <origin rpy="0 0 0" xyz="-5.58208529822e-17 -5.14937369808e-18 0.015"/>
      <geometry>
        <mesh filename="package://crab_description/meshes/hebi_x5_4_64z_prt.stl" scale="0.001 0.001 0.001"/>
      </geometry>
    </collision>
    <inertial>
      <origin rpy="0 0 0" xyz="-0.0142019322139 -0.00151173442654 0.0150064707722"/>
      <mass value="0.33507040082811385"/>
      <inertia ixx="0.000139243898497" ixy="-1.88809652748e-05" ixz="1.26840661154e-08" iyy="0.000241540500785" iyz="1.28229789324e-07" izz="0.000330481488128"/>
    </inertial>
  </link>
  <gazebo reference="hebi_x5_4_64Z">
    <selfCollide>True</selfCollide>
    <material>Gazebo/Red</material>
    <mu1>0.1</mu1>
    <mu2>0.1</mu2>
    <kp>10000000</kp>
    <kd>1</kd>
    <minDepth>0.001</minDepth>
    <maxVel>100</maxVel>
    <sensor name="LeftArm/Elbow/imu_sensor" type="imu">
      <always_on>true</always_on>
      <update_rate>100</update_rate>
      <visualize>true</visualize>
      <plugin filename="libgazebo_ros_imu_sensor.so" name="imu_plugin">
        <topicName>/hebiros_gazebo_plugin/imu/LeftArm/Elbow</topicName>
        <bodyName>LeftArm/Elbow/imu_link</bodyName>
        <updateRateHZ>10.0</updateRateHZ>
        <gaussianNoise>0.0</gaussianNoise>
        <xyzOffset>0.025 0 0.003</xyzOffset>
        <rpyOffset>0 0 0</rpyOffset>
        <frameName>LeftArm/Elbow/imu_link</frameName>
      </plugin>
      <pose>0 0 0 0 0 0</pose>
    </sensor>
  </gazebo>
  <link name="hebi_x5_4_19Z">
    <visual>
      <origin rpy="0 0 0" xyz="-5.41555131898e-17 9.06148101712e-18 0.015"/>
      <geometry>
        <mesh filename="package://crab_description/meshes/hebi_x5_4_19z_prt.stl" scale="0.001 0.001 0.001"/>
      </geometry>
    </visual>
    <collision>
      <origin rpy="0 0 0" xyz="-5.41555131898e-17 9.06148101712e-18 0.015"/>
      <geometry>
        <mesh filename="package://crab_description/meshes/hebi_x5_4_19z_prt.stl" scale="0.001 0.001 0.001"/>
      </geometry>
    </collision>
    <inertial>
      <origin rpy="0 0 0" xyz="-0.0142019322139 -0.00151173442654 0.0150064707722"/>
      <mass value="0.33507040082811385"/>
      <inertia ixx="0.000139243898497" ixy="-1.88809652748e-05" ixz="1.26840661154e-08" iyy="0.000241540500785" iyz="1.28229789324e-07" izz="0.000330481488128"/>
    </inertial>
  </link>
  <gazebo reference="hebi_x5_4_19Z">
    <selfCollide>True</selfCollide>
    <material>Gazebo/Red</material>
    <mu1>0.1</mu1>
    <mu2>0.1</mu2>
    <kp>10000000</kp>
    <kd>1</kd>
    <minDepth>0.001</minDepth>
    <maxVel>100</maxVel>
    <sensor name="RightArm/Elbow/imu_sensor" type="imu">
      <always_on>true</always_on>
      <update_rate>100</update_rate>
      <visualize>true</visualize>
      <plugin filename="libgazebo_ros_imu_sensor.so" name="imu_plugin">
        <topicName>/hebiros_gazebo_plugin/imu/RightArm/Elbow</topicName>
        <bodyName>RightArm/Elbow/imu_link</bodyName>
        <updateRateHZ>10.0</updateRateHZ>
        <gaussianNoise>0.0</gaussianNoise>
        <xyzOffset>0.025 0 0.003</xyzOffset>
        <rpyOffset>0 0 0</rpyOffset>
        <frameName>RightArm/Elbow/imu_link</frameName>
      </plugin>
      <pose>0 0 0 0 0 0</pose>
    </sensor>
  </gazebo>
  <link name="hebi_x5_9_63Z">
    <visual>
      <origin rpy="0 0 0" xyz="-5.60810615027e-17 -3.41648690936e-18 0.015"/>
      <geometry>
        <mesh filename="package://crab_description/meshes/hebi_x5_9_63z_prt.stl" scale="0.001 0.001 0.001"/>
      </geometry>
    </visual>
    <collision>
      <origin rpy="0 0 0" xyz="-5.60810615027e-17 -3.41648690936e-18 0.015"/>
      <geometry>
        <mesh filename="package://crab_description/meshes/hebi_x5_9_63z_prt.stl" scale="0.001 0.001 0.001"/>
      </geometry>
    </collision>
    <inertial>
      <origin rpy="0 0 0" xyz="-0.0142019322139 -0.00151173442654 0.0150064707722"/>
      <mass value="0.3601223934133934"/>
      <inertia ixx="0.000149654657264" ixy="-2.029262623e-05" ixz="1.36324075072e-08" iyy="0.000259599603648" iyz="1.37817063293e-07" izz="0.000355190384437"/>
    </inertial>
  </link>
  <gazebo reference="hebi_x5_9_63Z">
    <selfCollide>True</selfCollide>
    <material>Gazebo/Red</material>
    <mu1>0.1</mu1>
    <mu2>0.1</mu2>
    <kp>10000000</kp>
    <kd>1</kd>
    <minDepth>0.001</minDepth>
    <maxVel>100</maxVel>
    <sensor name="LeftArm/Shoulder/imu_sensor" type="imu">
      <always_on>true</always_on>
      <update_rate>100</update_rate>
      <visualize>true</visualize>
      <plugin filename="libgazebo_ros_imu_sensor.so" name="imu_plugin">
        <topicName>/hebiros_gazebo_plugin/imu/LeftArm/Shoulder</topicName>
        <bodyName>LeftArm/Shoulder/imu_link</bodyName>
        <updateRateHZ>10.0</updateRateHZ>
        <gaussianNoise>0.0</gaussianNoise>
        <xyzOffset>0.025 0 0.003</xyzOffset>
        <rpyOffset>0 0 0</rpyOffset>
        <frameName>LeftArm/Shoulder/imu_link</frameName>
      </plugin>
      <pose>0 0 0 0 0 0</pose>
    </sensor>
  </gazebo>
  <link name="hebi_x5_9_11Z">
    <visual>
      <origin rpy="0 0 0" xyz="-5.44157217103e-17 1.07943678058e-17 0.015"/>
      <geometry>
        <mesh filename="package://crab_description/meshes/hebi_x5_9_11z_prt.stl" scale="0.001 0.001 0.001"/>
      </geometry>
    </visual>
    <collision>
      <origin rpy="0 0 0" xyz="-5.44157217103e-17 1.07943678058e-17 0.015"/>
      <geometry>
        <mesh filename="package://crab_description/meshes/hebi_x5_9_11z_prt.stl" scale="0.001 0.001 0.001"/>
      </geometry>
    </collision>
    <inertial>
      <origin rpy="0 0 0" xyz="-0.0142019322139 -0.00151173442654 0.0150064707722"/>
      <mass value="0.3601223934133934"/>
      <inertia ixx="0.000149654657264" ixy="-2.029262623e-05" ixz="1.36324075072e-08" iyy="0.000259599603648" iyz="1.37817063293e-07" izz="0.000355190384437"/>
    </inertial>
  </link>
  <gazebo reference="hebi_x5_9_11Z">
    <selfCollide>True</selfCollide>
    <material>Gazebo/Red</material>
    <mu1>0.1</mu1>
    <mu2>0.1</mu2>
    <kp>10000000</kp>
    <kd>1</kd>
    <minDepth>0.001</minDepth>
    <maxVel>100</maxVel>
    <sensor name="RightArm/Shoulder/imu_sensor" type="imu">
      <always_on>true</always_on>
      <update_rate>100</update_rate>
      <visualize>true</visualize>
      <plugin filename="libgazebo_ros_imu_sensor.so" name="imu_plugin">
        <topicName>/hebiros_gazebo_plugin/imu/RightArm/Shoulder</topicName>
        <bodyName>RightArm/Shoulder/imu_link</bodyName>
        <updateRateHZ>10.0</updateRateHZ>
        <gaussianNoise>0.0</gaussianNoise>
        <xyzOffset>0.025 0 0.003</xyzOffset>
        <rpyOffset>0 0 0</rpyOffset>
        <frameName>RightArm/Shoulder/imu_link</frameName>
      </plugin>
      <pose>0 0 0 0 0 0</pose>
    </sensor>
  </gazebo>
</robot>
